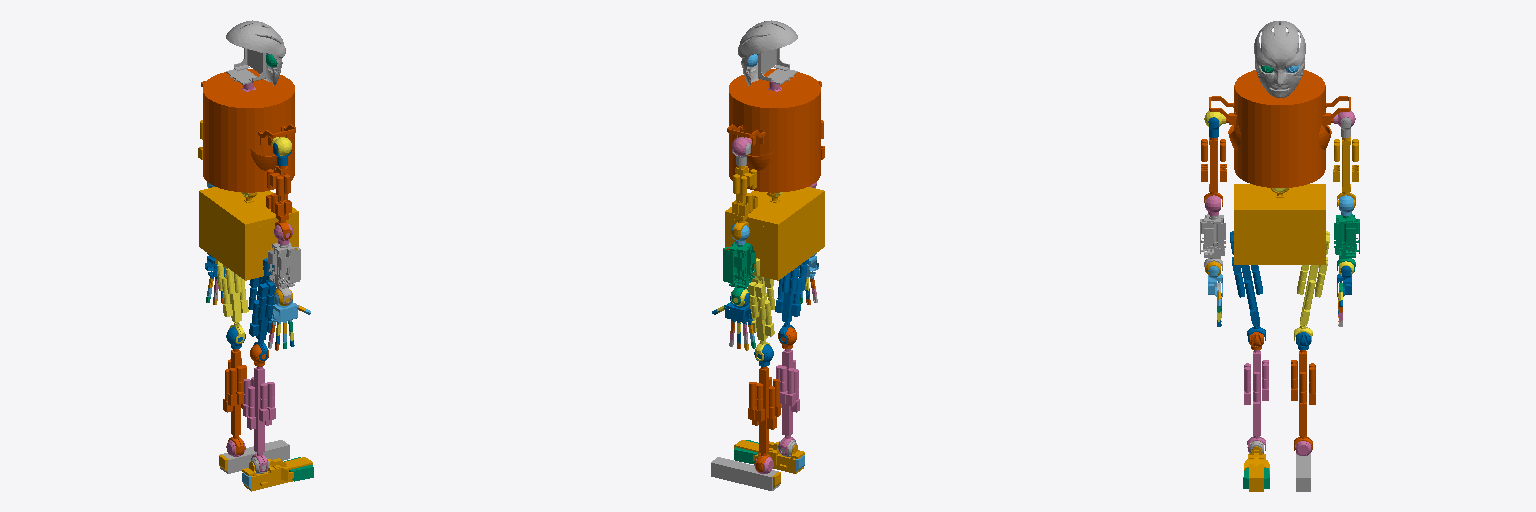
--- What the picture shows (computed from the rendered views, not written in the file) ---
3 views of the same robot in one strip: view 1: azimuth 30°, elevation 25°; view 2: azimuth 150°, elevation 25°; view 3: azimuth 270°, elevation 25° (orthographic).
Model MUSASHIWHOLE with 74 links and 73 joints (71 revolute, 2 fixed), rooted at PELVIS_LINK, posed all joints at 0.
Visible links, largest first — view 1: CHEST_LINK, PELVIS_LINK, HEAD_LINK, RLEG_TIBIA_LINK, RLEG_FEMUR_LINK, LLEG_TIBIA_LINK, RARM_FOREARM_LINK, LLEG_FEMUR_LINK, RARM_HUMERUS_LINK, RLEG_FOOT_LINK, LLEG_FOOT_LINK; view 2: CHEST_LINK, PELVIS_LINK, HEAD_LINK, LLEG_TIBIA_LINK, LLEG_FEMUR_LINK, RLEG_TIBIA_LINK, LARM_FOREARM_LINK, RLEG_FEMUR_LINK, LLEG_FOOT_LINK, LARM_HUMERUS_LINK, RLEG_FOOT_LINK; view 3: CHEST_LINK, PELVIS_LINK, HEAD_LINK, LLEG_TIBIA_LINK, RLEG_TIBIA_LINK, LLEG_FEMUR_LINK, RLEG_FEMUR_LINK, RARM_FOREARM_LINK, LARM_FOREARM_LINK, RARM_HUMERUS_LINK, LARM_HUMERUS_LINK, RLEG_FOOT_LINK (+1 smaller).
Link boxes in pixels (bbox=[...]): CHEST_LINK: bbox=[201, 69, 295, 192]; PELVIS_LINK: bbox=[199, 187, 298, 280]; HEAD_LINK: bbox=[226, 20, 285, 85]; RLEG_TIBIA_LINK: bbox=[243, 366, 275, 471]; RLEG_FEMUR_LINK: bbox=[248, 258, 275, 360]; LLEG_TIBIA_LINK: bbox=[223, 349, 246, 454]; RARM_FOREARM_LINK: bbox=[268, 242, 300, 304]; LLEG_FEMUR_LINK: bbox=[215, 259, 248, 343]; RARM_HUMERUS_LINK: bbox=[266, 166, 291, 239]; RLEG_FOOT_LINK: bbox=[242, 457, 312, 491]; LLEG_FOOT_LINK: bbox=[220, 440, 289, 473]; CHEST_LINK: bbox=[727, 69, 821, 192]; PELVIS_LINK: bbox=[725, 187, 824, 280]; HEAD_LINK: bbox=[738, 20, 797, 85]; LLEG_TIBIA_LINK: bbox=[748, 366, 780, 471]; LLEG_FEMUR_LINK: bbox=[748, 258, 774, 360]; RLEG_TIBIA_LINK: bbox=[776, 349, 799, 454]; LARM_FOREARM_LINK: bbox=[723, 242, 755, 304]; RLEG_FEMUR_LINK: bbox=[775, 259, 808, 343]; LLEG_FOOT_LINK: bbox=[711, 457, 779, 490]; LARM_HUMERUS_LINK: bbox=[731, 166, 757, 239]; RLEG_FOOT_LINK: bbox=[734, 440, 804, 473]; CHEST_LINK: bbox=[1209, 70, 1350, 187]; PELVIS_LINK: bbox=[1234, 184, 1325, 264]; HEAD_LINK: bbox=[1254, 21, 1305, 97]; LLEG_TIBIA_LINK: bbox=[1291, 350, 1315, 451]; RLEG_TIBIA_LINK: bbox=[1244, 350, 1268, 451]; LLEG_FEMUR_LINK: bbox=[1294, 231, 1329, 341]; RLEG_FEMUR_LINK: bbox=[1230, 231, 1265, 341]; RARM_FOREARM_LINK: bbox=[1200, 214, 1225, 271]; LARM_FOREARM_LINK: bbox=[1334, 214, 1359, 271]; RARM_HUMERUS_LINK: bbox=[1201, 137, 1226, 207]; LARM_HUMERUS_LINK: bbox=[1333, 137, 1358, 207]; RLEG_FOOT_LINK: bbox=[1244, 446, 1269, 491].
Bounding box of the posed robot: 0.3311 × 0.522 × 1.61 m (x, y, z).
71 mesh visuals loaded from 74 distinct referenced files (71 binary STL); not drawn: 3 (reference not matched to a file when rendering).

robot.urdf — MUSASHIWHOLE:
<?xml version='1.0' encoding='utf-8'?>
<robot name="MUSASHIWHOLE">
  <link name="PELVIS_LINK">
    <visual>
      <origin rpy="0 -0 0" xyz="0 0 0" />
      <geometry>
        <mesh filename="PELVIS_LINK_mesh.stl" scale="1 1 1" />
      </geometry>
    </visual>
    <collision>
      <origin rpy="0 -0 0" xyz="0 0 0" />
      <geometry>
        <mesh filename="PELVIS_LINK_mesh.stl" scale="1 1 1" />
      </geometry>
    </collision>
    <visual>
      <origin rpy="0 -0 0" xyz="0 0 -0.15" />
      <geometry>
        <box size="0.2 0.3 0.2"/>
      </geometry>
    </visual>
    <collision>
      <origin rpy="0 -0 0" xyz="0 0 -0.15" />
      <geometry>
        <box size="0.2 0.3 0.2"/>
      </geometry>
    </collision>
    <inertial>
      <mass value="8.64" />
      <origin rpy="0 -0 0" xyz="0.0364 0 -0.0682" />
      <inertia ixx="1" ixy="0" ixz="0" iyy="1" iyz="0" izz="1" />
    </inertial>
  </link>
  <gazebo reference="PELVIS_LINK">
    <mu1>0.9</mu1>
    <mu2>0.9</mu2>
  </gazebo>
  <link name="LLEG_HIP_JM_YAW_LINK">
    <visual>
      <origin rpy="0 -0 0" xyz="0 0.074848 -0.174" />
      <geometry>
        <mesh filename="LLEG_HIP_JM_YAW_LINK_mesh.stl" scale="1 1 1" />
      </geometry>
    </visual>
    <collision>
      <origin rpy="0 -0 0" xyz="0 0.074848 -0.174" />
      <geometry>
        <mesh filename="LLEG_HIP_JM_YAW_LINK_mesh.stl" scale="1 1 1" />
      </geometry>
    </collision>
    <inertial>
      <mass value="0.01" />
      <origin rpy="0 -0 0" xyz="0 0 0" />
      <inertia ixx="1" ixy="0" ixz="0" iyy="1" iyz="0" izz="1" />
    </inertial>
  </link>
  <gazebo reference="LLEG_HIP_JM_YAW_LINK">
    <mu1>0.9</mu1>
    <mu2>0.9</mu2>
  </gazebo>
  <link name="LLEG_HIP_JM_ROLL_LINK">
    <visual>
      <origin rpy="0 -0 0" xyz="0 0 0" />
      <geometry>
        <mesh filename="LLEG_HIP_JM_ROLL_LINK_mesh.stl" scale="1 1 1" />
      </geometry>
    </visual>
    <collision>
      <origin rpy="0 -0 0" xyz="0 0 0" />
      <geometry>
        <mesh filename="LLEG_HIP_JM_ROLL_LINK_mesh.stl" scale="1 1 1" />
      </geometry>
    </collision>
    <inertial>
      <mass value="0.001" />
      <origin rpy="0 -0 0" xyz="0 0 0" />
      <inertia ixx="1" ixy="0" ixz="0" iyy="1" iyz="0" izz="1" />
    </inertial>
  </link>
  <gazebo reference="LLEG_HIP_JM_ROLL_LINK">
    <mu1>0.9</mu1>
    <mu2>0.9</mu2>
  </gazebo>
  <link name="LLEG_FEMUR_LINK">
    <visual>
      <origin rpy="0 -0 0" xyz="0 0 0" />
      <geometry>
        <mesh filename="LLEG_FEMUR_LINK_mesh.stl" scale="1 1 1" />
      </geometry>
    </visual>
    <collision>
      <origin rpy="0 -0 0" xyz="0 0 0" />
      <geometry>
        <mesh filename="LLEG_FEMUR_LINK_mesh.stl" scale="1 1 1" />
      </geometry>
    </collision>
    <inertial>
      <mass value="2.19" />
      <origin rpy="0 -0 0" xyz="0.024 0.0021 -0.135" />
      <inertia ixx="1" ixy="0" ixz="0" iyy="1" iyz="0" izz="1" />
    </inertial>
  </link>
  <gazebo reference="LLEG_FEMUR_LINK">
    <mu1>0.9</mu1>
    <mu2>0.9</mu2>
  </gazebo>
  <link name="LLEG_KNEE_JM_PITCH_LINK">
    <visual>
      <origin rpy="0 -0 0" xyz="-0.003864 0.001455 -0.387444" />
      <geometry>
        <mesh filename="LLEG_KNEE_JM_PITCH_LINK_mesh.stl" scale="1 1 1" />
      </geometry>
    </visual>
    <collision>
      <origin rpy="0 -0 0" xyz="-0.003864 0.001455 -0.387444" />
      <geometry>
        <mesh filename="LLEG_KNEE_JM_PITCH_LINK_mesh.stl" scale="1 1 1" />
      </geometry>
    </collision>
    <inertial>
      <mass value="0.72" />
      <origin rpy="0 -0 0" xyz="-0.008065 0 -0.146065" />
      <inertia ixx="1" ixy="0" ixz="0" iyy="1" iyz="0" izz="1" />
    </inertial>
  </link>
  <gazebo reference="LLEG_KNEE_JM_PITCH_LINK">
    <mu1>0.9</mu1>
    <mu2>0.9</mu2>
  </gazebo>
  <link name="LLEG_TIBIA_LINK">
    <visual>
      <origin rpy="0 -0 0" xyz="0 0 0" />
      <geometry>
        <mesh filename="LLEG_TIBIA_LINK_mesh.stl" scale="1 1 1" />
      </geometry>
    </visual>
    <collision>
      <origin rpy="0 -0 0" xyz="0 0 0" />
      <geometry>
        <mesh filename="LLEG_TIBIA_LINK_mesh.stl" scale="1 1 1" />
      </geometry>
    </collision>
    <inertial>
      <mass value="0.75" />
      <origin rpy="0 -0 0" xyz="-0.003285 0 -0.13898" />
      <inertia ixx="1" ixy="0" ixz="0" iyy="1" iyz="0" izz="1" />
    </inertial>
  </link>
  <gazebo reference="LLEG_TIBIA_LINK">
    <mu1>0.9</mu1>
    <mu2>0.9</mu2>
  </gazebo>
  <link name="LLEG_ANKLE_JM_PITCH_LINK">
    <visual>
      <origin rpy="0 -0 0" xyz="0 0 -0.396" />
      <geometry>
        <mesh filename="LLEG_ANKLE_JM_PITCH_LINK_mesh.stl" scale="1 1 1" />
      </geometry>
    </visual>
    <collision>
      <origin rpy="0 -0 0" xyz="0 0 -0.396" />
      <geometry>
        <mesh filename="LLEG_ANKLE_JM_PITCH_LINK_mesh.stl" scale="1 1 1" />
      </geometry>
    </collision>
    <inertial>
      <mass value="0.001" />
      <origin rpy="0 -0 0" xyz="0 0 0" />
      <inertia ixx="1" ixy="0" ixz="0" iyy="1" iyz="0" izz="1" />
    </inertial>
  </link>
  <gazebo reference="LLEG_ANKLE_JM_PITCH_LINK">
    <mu1>0.9</mu1>
    <mu2>0.9</mu2>
  </gazebo>
  <link name="LLEG_FOOT_LINK">
    <visual>
      <origin rpy="0 -0 0" xyz="0 0 0" />
      <geometry>
        <mesh filename="LLEG_FOOT_LINK_mesh.stl" scale="1 1 1" />
      </geometry>
    </visual>
    <collision>
      <origin rpy="0 -0 0" xyz="0 0 0" />
      <geometry>
        <mesh filename="LLEG_FOOT_LINK_mesh.stl" scale="1 1 1" />
      </geometry>
    </collision>
    <collision>
        <origin rpy="0 0 0" xyz="0.07 0 -0.05"/>
        <geometry>
            <box size="0.23 0.05 0.05"/>
        </geometry>
    </collision>
    <visual>
        <origin rpy="0 0 0" xyz="0.07 0 -0.05"/>
        <geometry>
            <box size="0.23 0.05 0.05"/>
        </geometry>
    </visual>
    <inertial>
      <mass value="0.813162" />
      <origin rpy="0 -0 0" xyz="0.031374 0.000351 -0.021492" />
      <inertia ixx="1" ixy="0" ixz="0" iyy="1" iyz="0" izz="1" />
    </inertial>
  </link>
  <gazebo reference="LLEG_FOOT_LINK">
    <mu1>0.9</mu1>
    <mu2>0.9</mu2>
  </gazebo>
  <link name="LLEG_HEEL_LINK">
    <visual>
      <origin rpy="0 -0 0" xyz="-0.006 0 -0.0425" />
      <geometry>
        <mesh filename="LLEG_HEEL_LINK_mesh.stl" scale="1 1 1" />
      </geometry>
    </visual>
    <collision>
      <origin rpy="0 -0 0" xyz="-0.006 0 -0.0425" />
      <geometry>
        <mesh filename="LLEG_HEEL_LINK_mesh.stl" scale="1 1 1" />
      </geometry>
    </collision>
    <inertial>
      <mass value="0.128555" />
      <origin rpy="0 -0 0" xyz="-0.028056 -0.001328 -0.006455" />
      <inertia ixx="1" ixy="0" ixz="0" iyy="1" iyz="0" izz="1" />
    </inertial>
  </link>
  <gazebo reference="LLEG_HEEL_LINK">
    <mu1>0.9</mu1>
    <mu2>0.9</mu2>
  </gazebo>
  <link name="LLEG_TOE_LINK">
    <visual>
      <origin rpy="0 -0 0" xyz="0.1195 0 -0.0455" />
      <geometry>
        <mesh filename="LLEG_TOE_LINK_mesh.stl" scale="1 1 1" />
      </geometry>
    </visual>
    <collision>
      <origin rpy="0 -0 0" xyz="0.1195 0 -0.0455" />
      <geometry>
        <mesh filename="LLEG_TOE_LINK_mesh.stl" scale="1 1 1" />
      </geometry>
    </collision>
    <inertial>
      <mass value="0.368967" />
      <origin rpy="0 -0 0" xyz="0.024319 0.000124 -0.006775" />
      <inertia ixx="1" ixy="0" ixz="0" iyy="1" iyz="0" izz="1" />
    </inertial>
  </link>
  <gazebo reference="LLEG_TOE_LINK">
    <mu1>0.9</mu1>
    <mu2>0.9</mu2>
  </gazebo>
  <link name="RLEG_HIP_JM_YAW_LINK">
    <visual>
      <origin rpy="0 -0 0" xyz="0 -0.074848 -0.174" />
      <geometry>
        <mesh filename="RLEG_HIP_JM_YAW_LINK_mesh.stl" scale="1 1 1" />
      </geometry>
    </visual>
    <collision>
      <origin rpy="0 -0 0" xyz="0 -0.074848 -0.174" />
      <geometry>
        <mesh filename="RLEG_HIP_JM_YAW_LINK_mesh.stl" scale="1 1 1" />
      </geometry>
    </collision>
    <inertial>
      <mass value="0.01" />
      <origin rpy="0 -0 0" xyz="0 0 0" />
      <inertia ixx="1" ixy="0" ixz="0" iyy="1" iyz="0" izz="1" />
    </inertial>
  </link>
  <gazebo reference="RLEG_HIP_JM_YAW_LINK">
    <mu1>0.9</mu1>
    <mu2>0.9</mu2>
  </gazebo>
  <link name="RLEG_HIP_JM_ROLL_LINK">
    <visual>
      <origin rpy="0 -0 0" xyz="0 0 0" />
      <geometry>
        <mesh filename="RLEG_HIP_JM_ROLL_LINK_mesh.stl" scale="1 1 1" />
      </geometry>
    </visual>
    <collision>
      <origin rpy="0 -0 0" xyz="0 0 0" />
      <geometry>
        <mesh filename="RLEG_HIP_JM_ROLL_LINK_mesh.stl" scale="1 1 1" />
      </geometry>
    </collision>
    <inertial>
      <mass value="0.001" />
      <origin rpy="0 -0 0" xyz="0 0 0" />
      <inertia ixx="1" ixy="0" ixz="0" iyy="1" iyz="0" izz="1" />
    </inertial>
  </link>
  <gazebo reference="RLEG_HIP_JM_ROLL_LINK">
    <mu1>0.9</mu1>
    <mu2>0.9</mu2>
  </gazebo>
  <link name="RLEG_FEMUR_LINK">
    <visual>
      <origin rpy="0 -0 0" xyz="0 0 0" />
      <geometry>
        <mesh filename="RLEG_FEMUR_LINK_mesh.stl" scale="1 1 1" />
      </geometry>
    </visual>
    <collision>
      <origin rpy="0 -0 0" xyz="0 0 0" />
      <geometry>
        <mesh filename="RLEG_FEMUR_LINK_mesh.stl" scale="1 1 1" />
      </geometry>
    </collision>
    <inertial>
      <mass value="2.19" />
      <origin rpy="0 -0 0" xyz="0.024 0.0021 -0.135" />
      <inertia ixx="1" ixy="0" ixz="0" iyy="1" iyz="0" izz="1" />
    </inertial>
  </link>
  <gazebo reference="RLEG_FEMUR_LINK">
    <mu1>0.9</mu1>
    <mu2>0.9</mu2>
  </gazebo>
  <link name="RLEG_KNEE_JM_PITCH_LINK">
    <visual>
      <origin rpy="0 -0 0" xyz="-0.003864 -0.001455 -0.387444" />
      <geometry>
        <mesh filename="RLEG_KNEE_JM_PITCH_LINK_mesh.stl" scale="1 1 1" />
      </geometry>
    </visual>
    <collision>
      <origin rpy="0 -0 0" xyz="-0.003864 -0.001455 -0.387444" />
      <geometry>
        <mesh filename="RLEG_KNEE_JM_PITCH_LINK_mesh.stl" scale="1 1 1" />
      </geometry>
    </collision>
    <inertial>
      <mass value="0.72" />
      <origin rpy="0 -0 0" xyz="-0.008065 0 -0.146065" />
      <inertia ixx="1" ixy="0" ixz="0" iyy="1" iyz="0" izz="1" />
    </inertial>
  </link>
  <gazebo reference="RLEG_KNEE_JM_PITCH_LINK">
    <mu1>0.9</mu1>
    <mu2>0.9</mu2>
  </gazebo>
  <link name="RLEG_TIBIA_LINK">
    <visual>
      <origin rpy="0 -0 0" xyz="0 0 0" />
      <geometry>
        <mesh filename="RLEG_TIBIA_LINK_mesh.stl" scale="1 1 1" />
      </geometry>
    </visual>
    <collision>
      <origin rpy="0 -0 0" xyz="0 0 0" />
      <geometry>
        <mesh filename="RLEG_TIBIA_LINK_mesh.stl" scale="1 1 1" />
      </geometry>
    </collision>
    <inertial>
      <mass value="0.75" />
      <origin rpy="0 -0 0" xyz="-0.003285 0 -0.13898" />
      <inertia ixx="1" ixy="0" ixz="0" iyy="1" iyz="0" izz="1" />
    </inertial>
  </link>
  <gazebo reference="RLEG_TIBIA_LINK">
    <mu1>0.9</mu1>
    <mu2>0.9</mu2>
  </gazebo>
  <link name="RLEG_ANKLE_JM_PITCH_LINK">
    <visual>
      <origin rpy="0 -0 0" xyz="0 0 -0.396" />
      <geometry>
        <mesh filename="RLEG_ANKLE_JM_PITCH_LINK_mesh.stl" scale="1 1 1" />
      </geometry>
    </visual>
    <collision>
      <origin rpy="0 -0 0" xyz="0 0 -0.396" />
      <geometry>
        <mesh filename="RLEG_ANKLE_JM_PITCH_LINK_mesh.stl" scale="1 1 1" />
      </geometry>
    </collision>
    <inertial>
      <mass value="0.001" />
      <origin rpy="0 -0 0" xyz="0 0 0" />
      <inertia ixx="1" ixy="0" ixz="0" iyy="1" iyz="0" izz="1" />
    </inertial>
  </link>
  <gazebo reference="RLEG_ANKLE_JM_PITCH_LINK">
    <mu1>0.9</mu1>
    <mu2>0.9</mu2>
  </gazebo>
  <link name="RLEG_FOOT_LINK">
    <visual>
      <origin rpy="0 -0 0" xyz="0 0 0" />
      <geometry>
        <mesh filename="RLEG_FOOT_LINK_mesh.stl" scale="1 1 1" />
      </geometry>
    </visual>
    <collision>
      <origin rpy="0 -0 0" xyz="0 0 0" />
      <geometry>
        <mesh filename="RLEG_FOOT_LINK_mesh.stl" scale="1 1 1" />
      </geometry>
    </collision>
    <collision>
        <origin rpy="0 0 0" xyz="0.07 0 -0.05"/>
        <geometry>
            <box size="0.23 0.05 0.05"/>
        </geometry>
    </collision>
    <visual>
        <origin rpy="0 0 0" xyz="0.07 0 -0.05"/>
        <geometry>
            <box size="0.23 0.05 0.05"/>
        </geometry>
    </visual>
    <inertial>
      <mass value="0.813162" />
      <origin rpy="0 -0 0" xyz="0.031374 -0.000351 -0.021492" />
      <inertia ixx="1" ixy="0" ixz="0" iyy="1" iyz="0" izz="1" />
    </inertial>
  </link>
  <gazebo reference="RLEG_FOOT_LINK">
    <mu1>0.9</mu1>
    <mu2>0.9</mu2>
  </gazebo>
  <link name="RLEG_HEEL_LINK">
    <visual>
      <origin rpy="0 -0 0" xyz="-0.006 0 -0.0425" />
      <geometry>
        <mesh filename="RLEG_HEEL_LINK_mesh.stl" scale="1 1 1" />
      </geometry>
    </visual>
    <collision>
      <origin rpy="0 -0 0" xyz="-0.006 0 -0.0425" />
      <geometry>
        <mesh filename="RLEG_HEEL_LINK_mesh.stl" scale="1 1 1" />
      </geometry>
    </collision>
    <inertial>
      <mass value="0.128555" />
      <origin rpy="0 -0 0" xyz="-0.028056 0.001328 -0.006455" />
      <inertia ixx="1" ixy="0" ixz="0" iyy="1" iyz="0" izz="1" />
    </inertial>
  </link>
  <gazebo reference="RLEG_HEEL_LINK">
    <mu1>0.9</mu1>
    <mu2>0.9</mu2>
  </gazebo>
  <link name="RLEG_TOE_LINK">
    <visual>
      <origin rpy="0 -0 0" xyz="0.1195 0 -0.0455" />
      <geometry>
        <mesh filename="RLEG_TOE_LINK_mesh.stl" scale="1 1 1" />
      </geometry>
    </visual>
    <collision>
      <origin rpy="0 -0 0" xyz="0.1195 0 -0.0455" />
      <geometry>
        <mesh filename="RLEG_TOE_LINK_mesh.stl" scale="1 1 1" />
      </geometry>
    </collision>
    <inertial>
      <mass value="0.368967" />
      <origin rpy="0 -0 0" xyz="0.024319 -0.000124 -0.006775" />
      <inertia ixx="1" ixy="0" ixz="0" iyy="1" iyz="0" izz="1" />
    </inertial>
  </link>
  <gazebo reference="RLEG_TOE_LINK">
    <mu1>0.9</mu1>
    <mu2>0.9</mu2>
  </gazebo>
  <link name="SPINE_JM_PITCH_LINK">
    <visual>
      <origin rpy="0 -0 0" xyz="0 0 0" />
      <geometry>
        <mesh filename="SPINE_JM_PITCH_LINK_mesh.stl" scale="1 1 1" />
      </geometry>
    </visual>
    <collision>
      <origin rpy="0 -0 0" xyz="0 0 0" />
      <geometry>
        <mesh filename="SPINE_JM_PITCH_LINK_mesh.stl" scale="1 1 1" />
      </geometry>
    </collision>
    <inertial>
      <mass value="0.001" />
      <origin rpy="0 -0 0" xyz="0 0 0" />
      <inertia ixx="1" ixy="0" ixz="0" iyy="1" iyz="0" izz="1" />
    </inertial>
  </link>
  <gazebo reference="SPINE_JM_PITCH_LINK">
    <mu1>0.9</mu1>
    <mu2>0.9</mu2>
  </gazebo>
  <link name="SPINE_JM_ROLL_LINK">
    <visual>
      <origin rpy="0 -0 0" xyz="0 0 0" />
      <geometry>
        <mesh filename="SPINE_JM_ROLL_LINK_mesh.stl" scale="1 1 1" />
      </geometry>
    </visual>
    <collision>
      <origin rpy="0 -0 0" xyz="0 0 0" />
      <geometry>
        <mesh filename="SPINE_JM_ROLL_LINK_mesh.stl" scale="1 1 1" />
      </geometry>
    </collision>
    <inertial>
      <mass value="0.001" />
      <origin rpy="0 -0 0" xyz="0 0 0" />
      <inertia ixx="1" ixy="0" ixz="0" iyy="1" iyz="0" izz="1" />
    </inertial>
  </link>
  <gazebo reference="SPINE_JM_ROLL_LINK">
    <mu1>0.9</mu1>
    <mu2>0.9</mu2>
  </gazebo>
  <link name="CHEST_LINK">
    <visual>
      <origin rpy="0 -0 0" xyz="0 0 0" />
      <geometry>
        <mesh filename="CHEST_LINK_mesh.stl" scale="1 1 1" />
      </geometry>
    </visual>
    <collision>
      <origin rpy="0 -0 0" xyz="0 0 0" />
      <geometry>
        <mesh filename="CHEST_LINK_mesh.stl" scale="1 1 1" />
      </geometry>
    </collision>
    <collision>
      <origin rpy="0 -0 0" xyz="0 0 0.2" />
      <geometry>
        <cylinder radius="0.15" length="0.3"/>
      </geometry>
    </collision>
    <visual>
      <origin rpy="0 -0 0" xyz="0 0 0.2" />
      <geometry>
        <cylinder radius="0.15" length="0.3"/>
      </geometry>
    </visual>
    <inertial>
      <mass value="0.001" />
      <origin rpy="0 -0 0" xyz="0 0 0" />
      <inertia ixx="1" ixy="0" ixz="0" iyy="1" iyz="0" izz="1" />
    </inertial>
  </link>
  <gazebo reference="CHEST_LINK">
    <mu1>0.9</mu1>
    <mu2>0.9</mu2>
  </gazebo>
  <link name="LARM_HUMERUS_DUMMY1_LINK">
    <visual>
      <origin rpy="0 -0 0" xyz="0 0.178 0.231445" />
      <geometry>
        <mesh filename="LARM_HUMERUS_DUMMY1_LINK_mesh.stl" scale="1 1 1" />
      </geometry>
    </visual>
    <collision>
      <origin rpy="0 -0 0" xyz="0 0.178 0.231445" />
      <geometry>
        <mesh filename="LARM_HUMERUS_DUMMY1_LINK_mesh.stl" scale="1 1 1" />
      </geometry>
    </collision>
    <inertial>
      <mass value="0.001" />
      <origin rpy="0 -0 0" xyz="0 0 0" />
      <inertia ixx="1" ixy="0" ixz="0" iyy="1" iyz="0" izz="1" />
    </inertial>
  </link>
  <gazebo reference="LARM_HUMERUS_DUMMY1_LINK">
    <mu1>0.9</mu1>
    <mu2>0.9</mu2>
  </gazebo>
  <link name="LARM_HUMERUS_DUMMY2_LINK">
    <visual>
      <origin rpy="0 -0 0" xyz="0 0.039 0" />
      <geometry>
        <mesh filename="LARM_HUMERUS_DUMMY2_LINK_mesh.stl" scale="1 1 1" />
      </geometry>
    </visual>
    <collision>
      <origin rpy="0 -0 0" xyz="0 0.039 0" />
      <geometry>
        <mesh filename="LARM_HUMERUS_DUMMY2_LINK_mesh.stl" scale="1 1 1" />
      </geometry>
    </collision>
    <inertial>
      <mass value="0.001" />
      <origin rpy="0 -0 0" xyz="0 0 0" />
      <inertia ixx="1" ixy="0" ixz="0" iyy="1" iyz="0" izz="1" />
    </inertial>
  </link>
  <gazebo reference="LARM_HUMERUS_DUMMY2_LINK">
    <mu1>0.9</mu1>
    <mu2>0.9</mu2>
  </gazebo>
  <link name="LARM_HUMERUS_LINK">
    <visual>
      <origin rpy="0 -0 0" xyz="0 0 -0.073" />
      <geometry>
        <mesh filename="LARM_HUMERUS_LINK_mesh.stl" scale="1 1 1" />
      </geometry>
    </visual>
    <collision>
      <origin rpy="0 -0 0" xyz="0 0 -0.073" />
      <geometry>
        <mesh filename="LARM_HUMERUS_LINK_mesh.stl" scale="1 1 1" />
      </geometry>
    </collision>
    <inertial>
      <mass value="2.19" />
      <origin rpy="0 -0 0" xyz="0.024 0.0021 -0.135" />
      <inertia ixx="1" ixy="0" ixz="0" iyy="1" iyz="0" izz="1" />
    </inertial>
  </link>
  <gazebo reference="LARM_HUMERUS_LINK">
    <mu1>0.9</mu1>
    <mu2>0.9</mu2>
  </gazebo>
  <link name="LARM_FOREARM_DUMMY1_LINK">
    <visual>
      <origin rpy="0 -0 0" xyz="0.004 0 -0.231" />
      <geometry>
        <mesh filename="LARM_FOREARM_DUMMY1_LINK_mesh.stl" scale="1 1 1" />
      </geometry>
    </visual>
    <collision>
      <origin rpy="0 -0 0" xyz="0.004 0 -0.231" />
      <geometry>
        <mesh filename="LARM_FOREARM_DUMMY1_LINK_mesh.stl" scale="1 1 1" />
      </geometry>
    </collision>
    <inertial>
      <mass value="0.72" />
      <origin rpy="0 -0 0" xyz="-0.008065 0 -0.146065" />
      <inertia ixx="1" ixy="0" ixz="0" iyy="1" iyz="0" izz="1" />
    </inertial>
  </link>
  <gazebo reference="LARM_FOREARM_DUMMY1_LINK">
    <mu1>0.9</mu1>
    <mu2>0.9</mu2>
  </gazebo>
  <link name="LARM_FOREARM_LINK">
    <visual>
      <origin rpy="0 -0 0" xyz="0 0 -0.04" />
      <geometry>
        <mesh filename="LARM_FOREARM_LINK_mesh.stl" scale="1 1 1" />
      </geometry>
    </visual>
    <collision>
      <origin rpy="0 -0 0" xyz="0 0 -0.04" />
      <geometry>
        <mesh filename="LARM_FOREARM_LINK_mesh.stl" scale="1 1 1" />
      </geometry>
    </collision>
    <inertial>
      <mass value="0.75" />
      <origin rpy="0 -0 0" xyz="-0.003285 0 -0.13898" />
      <inertia ixx="1" ixy="0" ixz="0" iyy="1" iyz="0" izz="1" />
    </inertial>
  </link>
  <gazebo reference="LARM_FOREARM_LINK">
    <mu1>0.9</mu1>
    <mu2>0.9</mu2>
  </gazebo>
  <link name="LARM_HAND_DUMMY1_LINK">
    <visual>
      <origin rpy="0 -0 0" xyz="0 0 -0.191" />
      <geometry>
        <mesh filename="LARM_HAND_DUMMY1_LINK_mesh.stl" scale="1 1 1" />
      </geometry>
    </visual>
    <collision>
      <origin rpy="0 -0 0" xyz="0 0 -0.191" />
      <geometry>
        <mesh filename="LARM_HAND_DUMMY1_LINK_mesh.stl" scale="1 1 1" />
      </geometry>
    </collision>
    <inertial>
      <mass value="0.001" />
      <origin rpy="0 -0 0" xyz="0 0 0" />
      <inertia ixx="1" ixy="0" ixz="0" iyy="1" iyz="0" izz="1" />
    </inertial>
  </link>
  <gazebo reference="LARM_HAND_DUMMY1_LINK">
    <mu1>0.9</mu1>
    <mu2>0.9</mu2>
  </gazebo>
  <link name="LARM_HAND_LINK">
    <visual>
      <origin rpy="0 -0 0" xyz="0 0 0" />
      <geometry>
        <mesh filename="LARM_HAND_LINK_mesh.stl" scale="1 1 1" />
      </geometry>
    </visual>
    <collision>
      <origin rpy="0 -0 0" xyz="0 0 0" />
      <geometry>
        <mesh filename="LARM_HAND_LINK_mesh.stl" scale="1 1 1" />
      </geometry>
    </collision>
    <inertial>
      <mass value="0.192" />
      <origin rpy="0 -0 0" xyz="0.01125 0 -0.03" />
      <inertia ixx="1" ixy="0" ixz="0" iyy="1" iyz="0" izz="1" />
    </inertial>
  </link>
  <gazebo reference="LARM_HAND_LINK">
    <mu1>0.9</mu1>
    <mu2>0.9</mu2>
  </gazebo>
  <link name="LARM_INDEX3_LINK">
    <visual>
      <origin rpy="0 -0 0" xyz="0.0349544 -0.017 -0.100974" />
      <geometry>
        <mesh filename="LARM_INDEX3_LINK_mesh.stl" scale="1 1 1" />
      </geometry>
    </visual>
    <collision>
      <origin rpy="0 -0 0" xyz="0.0349544 -0.017 -0.100974" />
      <geometry>
        <mesh filename="LARM_INDEX3_LINK_mesh.stl" scale="1 1 1" />
      </geometry>
    </collision>
    <inertial>
      <mass value="0.001" />
      <origin rpy="0 -0 0" xyz="0 0 0" />
      <inertia ixx="1" ixy="0" ixz="0" iyy="1" iyz="0" izz="1" />
    </inertial>
  </link>
  <gazebo reference="LARM_INDEX3_LINK">
    <mu1>0.9</mu1>
    <mu2>0.9</mu2>
  </gazebo>
  <link name="LARM_INDEX2_LINK">
    <visual>
      <origin rpy="0 -0 0" xyz="0.00348623 0 -0.0398478" />
      <geometry>
        <mesh filename="LARM_INDEX2_LINK_mesh.stl" scale="1 1 1" />
      </geometry>
    </visual>
    <collision>
      <origin rpy="0 -0 0" xyz="0.00348623 0 -0.0398478" />
      <geometry>
        <mesh filename="LARM_INDEX2_LINK_mesh.stl" scale="1 1 1" />
      </geometry>
    </collision>
    <inertial>
      <mass value="0.001" />
      <origin rpy="0 -0 0" xyz="0 0 0" />
      <inertia ixx="1" ixy="0" ixz="0" iyy="1" iyz="0" izz="1" />
    </inertial>
  </link>
  <gazebo reference="LARM_INDEX2_LINK">
    <mu1>0.9</mu1>
    <mu2>0.9</mu2>
  </gazebo>
  <link name="LARM_INDEX1_LINK">
    <visual>
      <origin rpy="0 -0 0" xyz="0.00261467 0 -0.0298858" />
      <geometry>
        <mesh filename="LARM_INDEX1_LINK_mesh.stl" scale="1 1 1" />
      </geometry>
    </visual>
    <collision>
      <origin rpy="0 -0 0" xyz="0.00261467 0 -0.0298858" />
      <geometry>
        <mesh filename="LARM_INDEX1_LINK_mesh.stl" scale="1 1 1" />
      </geometry>
    </collision>
    <inertial>
      <mass value="0.001" />
      <origin rpy="0 -0 0" xyz="0 0 0" />
      <inertia ixx="1" ixy="0" ixz="0" iyy="1" iyz="0" izz="1" />
    </inertial>
  </link>
  <gazebo reference="LARM_INDEX1_LINK">
    <mu1>0.9</mu1>
    <mu2>0.9</mu2>
  </gazebo>
  <link name="LARM_LITTLE3_LINK">
    <visual>
      <origin rpy="0 -0 0" xyz="-0.0273876 -0.017 -0.098252" />
      <geometry>
        <mesh filename="LARM_LITTLE3_LINK_mesh.stl" scale="1 1 1" />
      </geometry>
    </visual>
    <collision>
      <origin rpy="0 -0 0" xyz="-0.0273876 -0.017 -0.098252" />
      <geometry>
        <mesh filename="LARM_LITTLE3_LINK_mesh.stl" scale="1 1 1" />
      </geometry>
    </collision>
    <inertial>
      <mass value="0.001" />
      <origin rpy="0 -0 0" xyz="0 0 0" />
      <inertia ixx="1" ixy="0" ixz="0" iyy="1" iyz="0" izz="1" />
    </inertial>
  </link>
  <gazebo reference="LARM_LITTLE3_LINK">
    <mu1>0.9</mu1>
    <mu2>0.9</mu2>
  </gazebo>
  <link name="LARM_LITTLE2_LINK">
    <visual>
      <origin rpy="0 -0 0" xyz="-0.00520945 0 -0.0295442" />
      <geometry>
        <mesh filename="LARM_LITTLE2_LINK_mesh.stl" scale="1 1 1" />
      </geometry>
    </visual>
    <collision>
      <origin rpy="0 -0 0" xyz="-0.00520945 0 -0.0295442" />
      <geometry>
        <mesh filename="LARM_LITTLE2_LINK_mesh.stl" scale="1 1 1" />
      </geometry>
    </collision>
    <inertial>
      <mass value="0.001" />
      <origin rpy="0 -0 0" xyz="0 0 0" />
      <inertia ixx="1" ixy="0" ixz="0" iyy="1" iyz="0" izz="1" />
    </inertial>
  </link>
  <gazebo reference="LARM_LITTLE2_LINK">
    <mu1>0.9</mu1>
    <mu2>0.9</mu2>
  </gazebo>
  <link name="LARM_LITTLE1_LINK">
    <visual>
      <origin rpy="0 -0 0" xyz="-0.00520945 0 -0.0295442" />
      <geometry>
        <mesh filename="LARM_LITTLE1_LINK_mesh.stl" scale="1 1 1" />
      </geometry>
    </visual>
    <collision>
      <origin rpy="0 -0 0" xyz="-0.00520945 0 -0.0295442" />
      <geometry>
        <mesh filename="LARM_LITTLE1_LINK_mesh.stl" scale="1 1 1" />
      </geometry>
    </collision>
    <inertial>
      <mass value="0.001" />
      <origin rpy="0 -0 0" xyz="0 0 0" />
      <inertia ixx="1" ixy="0" ixz="0" iyy="1" iyz="0" izz="1" />
    </inertial>
  </link>
  <gazebo reference="LARM_LITTLE1_LINK">
    <mu1>0.9</mu1>
    <mu2>0.9</mu2>
  </gazebo>
  <link name="LARM_MIDDLE3_LINK">
    <visual>
      <origin rpy="0 -0 0" xyz="0.0141209 -0.017 -0.101883" />
      <geometry>
        <mesh filename="LARM_MIDDLE3_LINK_mesh.stl" scale="1 1 1" />
      </geometry>
    </visual>
    <collision>
      <origin rpy="0 -0 0" xyz="0.0141209 -0.017 -0.101883" />
      <geometry>
        <mesh filename="LARM_MIDDLE3_LINK_mesh.stl" scale="1 1 1" />
      </geometry>
    </collision>
    <inertial>
      <mass value="0.001" />
      <origin rpy="0 -0 0" xyz="0 0 0" />
      <inertia ixx="1" ixy="0" ixz="0" iyy="1" iyz="0" izz="1" />
    </inertial>
  </link>
  <gazebo reference="LARM_MIDDLE3_LINK">
    <mu1>0.9</mu1>
    <mu2>0.9</mu2>
  </gazebo>
  <link name="LARM_MIDDLE2_LINK">
    <visual>
      <origin rpy="0 -0 0" xyz="0 0 -0.04" />
      <geometry>
        <mesh filename="LARM_MIDDLE2_LINK_mesh.stl" scale="1 1 1" />
      </geometry>
    </visual>
    <collision>
      <origin rpy="0 -0 0" xyz="0 0 -0.04" />
      <geometry>
        <mesh filename="LARM_MIDDLE2_LINK_mesh.stl" scale="1 1 1" />
      </geometry>
    </collision>
    <inertial>
      <mass value="0.001" />
      <origin rpy="0 -0 0" xyz="0 0 0" />
      <inertia ixx="1" ixy="0" ixz="0" iyy="1" iyz="0" izz="1" />
    </inertial>
  </link>
  <gazebo reference="LARM_MIDDLE2_LINK">
    <mu1>0.9</mu1>
    <mu2>0.9</mu2>
  </gazebo>
  <link name="LARM_MIDDLE1_LINK">
    <visual>
      <origin rpy="0 -0 0" xyz="0 0 -0.03" />
      <geometry>
        <mesh filename="LARM_MIDDLE1_LINK_mesh.stl" scale="1 1 1" />
      </geometry>
    </visual>
    <collision>
      <origin rpy="0 -0 0" xyz="0 0 -0.03" />
      <geometry>
        <mesh filename="LARM_MIDDLE1_LINK_mesh.stl" scale="1 1 1" />
      </geometry>
    </collision>
    <inertial>
      <mass value="0.001" />
      <origin rpy="0 -0 0" xyz="0 0 0" />
      <inertia ixx="1" ixy="0" ixz="0" iyy="1" iyz="0" izz="1" />
    </inertial>
  </link>
  <gazebo reference="LARM_MIDDLE1_LINK">
    <mu1>0.9</mu1>
    <mu2>0.9</mu2>
  </gazebo>
  <link name="LARM_RING3_LINK">
    <visual>
      <origin rpy="0 -0 0" xyz="-0.00671263 -0.017 -0.100974" />
      <geometry>
        <mesh filename="LARM_RING3_LINK_mesh.stl" scale="1 1 1" />
      </geometry>
    </visual>
    <collision>
      <origin rpy="0 -0 0" xyz="-0.00671263 -0.017 -0.100974" />
      <geometry>
        <mesh filename="LARM_RING3_LINK_mesh.stl" scale="1 1 1" />
      </geometry>
    </collision>
    <inertial>
      <mass value="0.001" />
      <origin rpy="0 -0 0" xyz="0 0 0" />
      <inertia ixx="1" ixy="0" ixz="0" iyy="1" iyz="0" izz="1" />
    </inertial>
  </link>
  <gazebo reference="LARM_RING3_LINK">
    <mu1>0.9</mu1>
    <mu2>0.9</mu2>
  </gazebo>
  <link name="LARM_RING2_LINK">
    <visual>
      <origin rpy="0 -0 0" xyz="-0.00348623 0 -0.0398478" />
      <geometry>
        <mesh filename="LARM_RING2_LINK_mesh.stl" scale="1 1 1" />
      </geometry>
    </visual>
    <collision>
      <origin rpy="0 -0 0" xyz="-0.00348623 0 -0.0398478" />
      <geometry>
        <mesh filename="LARM_RING2_LINK_mesh.stl" scale="1 1 1" />
      </geometry>
    </collision>
    <inertial>
      <mass value="0.001" />
      <origin rpy="0 -0 0" xyz="0 0 0" />
      <inertia ixx="1" ixy="0" ixz="0" iyy="1" iyz="0" izz="1" />
    </inertial>
  </link>
  <gazebo reference="LARM_RING2_LINK">
    <mu1>0.9</mu1>
    <mu2>0.9</mu2>
  </gazebo>
  <link name="LARM_RING1_LINK">
    <visual>
      <origin rpy="0 -0 0" xyz="-0.00261467 0 -0.0298858" />
      <geometry>
        <mesh filename="LARM_RING1_LINK_mesh.stl" scale="1 1 1" />
      </geometry>
    </visual>
    <collision>
      <origin rpy="0 -0 0" xyz="-0.00261467 0 -0.0298858" />
      <geometry>
        <mesh filename="LARM_RING1_LINK_mesh.stl" scale="1 1 1" />
      </geometry>
    </collision>
    <inertial>
      <mass value="0.001" />
      <origin rpy="0 -0 0" xyz="0 0 0" />
      <inertia ixx="1" ixy="0" ixz="0" iyy="1" iyz="0" izz="1" />
    </inertial>
  </link>
  <gazebo reference="LARM_RING1_LINK">
    <mu1>0.9</mu1>
    <mu2>0.9</mu2>
  </gazebo>
  <link name="LARM_THUMB4_LINK">
    <visual>
      <origin rpy="0 -0 0" xyz="0.0299678 -0.006 -0.0497134" />
      <geometry>
        <mesh filename="LARM_THUMB4_LINK_mesh.stl" scale="1 1 1" />
      </geometry>
    </visual>
    <collision>
      <origin rpy="0 -0 0" xyz="0.0299678 -0.006 -0.0497134" />
      <geometry>
        <mesh filename="LARM_THUMB4_LINK_mesh.stl" scale="1 1 1" />
      </geometry>
    </collision>
    <inertial>
      <mass value="0.001" />
      <origin rpy="0 -0 0" xyz="0 0 0" />
      <inertia ixx="1" ixy="0" ixz="0" iyy="1" iyz="0" izz="1" />
    </inertial>
  </link>
  <gazebo reference="LARM_THUMB4_LINK">
    <mu1>0.9</mu1>
    <mu2>0.9</mu2>
  </gazebo>
  <link name="LARM_THUMB3_LINK">
    <visual>
      <origin rpy="0 -0 0" xyz="0 0 0" />
      <geometry>
        <mesh filename="LARM_THUMB3_LINK_mesh.stl" scale="1 1 1" />
      </geometry>
    </visual>
    <collision>
      <origin rpy="0 -0 0" xyz="0 0 0" />
      <geometry>
        <mesh filename="LARM_THUMB3_LINK_mesh.stl" scale="1 1 1" />
      </geometry>
    </collision>
    <inertial>
      <mass value="0.001" />
      <origin rpy="0 -0 0" xyz="0 0 0" />
      <inertia ixx="1" ixy="0" ixz="0" iyy="1" iyz="0" izz="1" />
    </inertial>
  </link>
  <gazebo reference="LARM_THUMB3_LINK">
    <mu1>0.9</mu1>
    <mu2>0.9</mu2>
  </gazebo>
  <link name="LARM_THUMB2_LINK">
    <visual>
      <origin rpy="0 -0 0" xyz="0.0360228 -0.011 -0.0109274" />
      <geometry>
        <mesh filename="LARM_THUMB2_LINK_mesh.stl" scale="1 1 1" />
      </geometry>
    </visual>
    <collision>
      <origin rpy="0 -0 0" xyz="0.0360228 -0.011 -0.0109274" />
      <geometry>
        <mesh filename="LARM_THUMB2_LINK_mesh.stl" scale="1 1 1" />
      </geometry>
    </collision>
    <inertial>
      <mass value="0.001" />
      <origin rpy="0 -0 0" xyz="0 0 0" />
      <inertia ixx="1" ixy="0" ixz="0" iyy="1" iyz="0" izz="1" />
    </inertial>
  </link>
  <gazebo reference="LARM_THUMB2_LINK">
    <mu1>0.9</mu1>
    <mu2>0.9</mu2>
  </gazebo>
  <link name="LARM_THUMB1_LINK">
    <visual>
      <origin rpy="0 -0 0" xyz="0.0245746 0 -0.0172073" />
      <geometry>
        <mesh filename="LARM_THUMB1_LINK_mesh.stl" scale="1 1 1" />
      </geometry>
    </visual>
    <collision>
      <origin rpy="0 -0 0" xyz="0.0245746 0 -0.0172073" />
      <geometry>
        <mesh filename="LARM_THUMB1_LINK_mesh.stl" scale="1 1 1" />
      </geometry>
    </collision>
    <inertial>
      <mass value="0.001" />
      <origin rpy="0 -0 0" xyz="0 0 0" />
      <inertia ixx="1" ixy="0" ixz="0" iyy="1" iyz="0" izz="1" />
    </inertial>
  </link>
  <gazebo reference="LARM_THUMB1_LINK">
    <mu1>0.9</mu1>
    <mu2>0.9</mu2>
  </gazebo>
  <link name="NECK_JM_PITCH_LINK">
    <visual>
      <origin rpy="0 -0 0" xyz="0 0 0.322" />
      <geometry>
        <mesh filename="NECK_JM_PITCH_LINK_mesh.stl" scale="1 1 1" />
      </geometry>
    </visual>
    <collision>
      <origin rpy="0 -0 0" xyz="0 0 0.322" />
      <geometry>
        <mesh filename="NECK_JM_PITCH_LINK_mesh.stl" scale="1 1 1" />
      </geometry>
    </collision>
    <inertial>
      <mass value="0.001" />
      <origin rpy="0 -0 0" xyz="0 0 0" />
      <inertia ixx="1" ixy="0" ixz="0" iyy="1" iyz="0" izz="1" />
    </inertial>
  </link>
  <gazebo reference="NECK_JM_PITCH_LINK">
    <mu1>0.9</mu1>
    <mu2>0.9</mu2>
  </gazebo>
  <link name="NECK_JM_ROLL_LINK">
    <visual>
      <origin rpy="0 -0 0" xyz="0 0 0" />
      <geometry>
        <mesh filename="NECK_JM_ROLL_LINK_mesh.stl" scale="1 1 1" />
      </geometry>
    </visual>
    <collision>
      <origin rpy="0 -0 0" xyz="0 0 0" />
      <geometry>
        <mesh filename="NECK_JM_ROLL_LINK_mesh.stl" scale="1 1 1" />
      </geometry>
    </collision>
    <inertial>
      <mass value="0.001" />
      <origin rpy="0 -0 0" xyz="0 0 0" />
      <inertia ixx="1" ixy="0" ixz="0" iyy="1" iyz="0" izz="1" />
    </inertial>
  </link>
  <gazebo reference="NECK_JM_ROLL_LINK">
    <mu1>0.9</mu1>
    <mu2>0.9</mu2>
  </gazebo>
  <link name="HEAD_LINK">
    <visual>
      <origin rpy="0 -0 0" xyz="0 0 0" />
      <geometry>
        <mesh filename="HEAD_LINK_mesh.stl" scale="1 1 1" />
      </geometry>
    </visual>
    <collision>
      <origin rpy="0 -0 0" xyz="0 0 0" />
      <geometry>
        <mesh filename="HEAD_LINK_mesh.stl" scale="1 1 1" />
      </geometry>
    </collision>
    <inertial>
      <mass value="0.001" />
      <origin rpy="0 -0 0" xyz="0 0 0" />
      <inertia ixx="1" ixy="0" ixz="0" iyy="1" iyz="0" izz="1" />
    </inertial>
  </link>
  <gazebo reference="HEAD_LINK">
    <mu1>0.9</mu1>
    <mu2>0.9</mu2>
  </gazebo>
  <link name="EYE_DUMMY1_LINK">
    <visual>
      <origin rpy="0 -0 0" xyz="0.068814 0 0.134" />
      <geometry>
        <mesh filename="EYE_DUMMY1_LINK_mesh.stl" scale="1 1 1" />
      </geometry>
    </visual>
    <collision>
      <origin rpy="0 -0 0" xyz="0.068814 0 0.134" />
      <geometry>
        <mesh filename="EYE_DUMMY1_LINK_mesh.stl" scale="1 1 1" />
      </geometry>
    </collision>
    <inertial>
      <mass value="2.12" />
      <origin rpy="0 -0 0" xyz="-0.00188 0 0.0746" />
      <inertia ixx="1" ixy="0" ixz="0" iyy="1" iyz="0" izz="1" />
    </inertial>
  </link>
  <gazebo reference="EYE_DUMMY1_LINK">
    <mu1>0.9</mu1>
    <mu2>0.9</mu2>
  </gazebo>
  <link name="LEYE_LINK">
    <visual>
      <origin rpy="0 -0 0" xyz="0 0.04 0" />
      <geometry>
        <mesh filename="LEYE_LINK_mesh.stl" scale="1 1 1" />
      </geometry>
    </visual>
    <collision>
      <origin rpy="0 -0 0" xyz="0 0.04 0" />
      <geometry>
        <mesh filename="LEYE_LINK_mesh.stl" scale="1 1 1" />
      </geometry>
    </collision>
    <inertial>
      <mass value="0.1" />
      <origin rpy="0 -0 0" xyz="-0.00188 0 0.0746" />
      <inertia ixx="1" ixy="0" ixz="0" iyy="1" iyz="0" izz="1" />
    </inertial>
  </link>
  <gazebo reference="LEYE_LINK">
    <mu1>0.9</mu1>
    <mu2>0.9</mu2>
  </gazebo>
  <link name="REYE_LINK">
    <visual>
      <origin rpy="0 -0 0" xyz="0 -0.04 0" />
      <geometry>
        <mesh filename="REYE_LINK_mesh.stl" scale="1 1 1" />
      </geometry>
    </visual>
    <collision>
      <origin rpy="0 -0 0" xyz="0 -0.04 0" />
      <geometry>
        <mesh filename="REYE_LINK_mesh.stl" scale="1 1 1" />
      </geometry>
    </collision>
    <inertial>
      <mass value="0.1" />
      <origin rpy="0 -0 0" xyz="-0.00188 0 0.0746" />
      <inertia ixx="1" ixy="0" ixz="0" iyy="1" iyz="0" izz="1" />
    </inertial>
  </link>
  <gazebo reference="REYE_LINK">
    <mu1>0.9</mu1>
    <mu2>0.9</mu2>
  </gazebo>
  <link name="RARM_HUMERUS_DUMMY1_LINK">
    <visual>
      <origin rpy="0 -0 0" xyz="0 -0.178 0.231445" />
      <geometry>
        <mesh filename="RARM_HUMERUS_DUMMY1_LINK_mesh.stl" scale="1 1 1" />
      </geometry>
    </visual>
    <collision>
      <origin rpy="0 -0 0" xyz="0 -0.178 0.231445" />
      <geometry>
        <mesh filename="RARM_HUMERUS_DUMMY1_LINK_mesh.stl" scale="1 1 1" />
      </geometry>
    </collision>
    <inertial>
      <mass value="0.001" />
      <origin rpy="0 -0 0" xyz="0 0 0" />
      <inertia ixx="1" ixy="0" ixz="0" iyy="1" iyz="0" izz="1" />
    </inertial>
  </link>
  <gazebo reference="RARM_HUMERUS_DUMMY1_LINK">
    <mu1>0.9</mu1>
    <mu2>0.9</mu2>
  </gazebo>
  <link name="RARM_HUMERUS_DUMMY2_LINK">
    <visual>
      <origin rpy="0 -0 0" xyz="0 -0.039 0" />
      <geometry>
        <mesh filename="RARM_HUMERUS_DUMMY2_LINK_mesh.stl" scale="1 1 1" />
      </geometry>
    </visual>
    <collision>
      <origin rpy="0 -0 0" xyz="0 -0.039 0" />
      <geometry>
        <mesh filename="RARM_HUMERUS_DUMMY2_LINK_mesh.stl" scale="1 1 1" />
      </geometry>
    </collision>
    <inertial>
      <mass value="0.001" />
      <origin rpy="0 -0 0" xyz="0 0 0" />
      <inertia ixx="1" ixy="0" ixz="0" iyy="1" iyz="0" izz="1" />
    </inertial>
  </link>
  <gazebo reference="RARM_HUMERUS_DUMMY2_LINK">
    <mu1>0.9</mu1>
    <mu2>0.9</mu2>
  </gazebo>
  <link name="RARM_HUMERUS_LINK">
    <visual>
      <origin rpy="0 -0 0" xyz="0 0 -0.073" />
      <geometry>
        <mesh filename="RARM_HUMERUS_LINK_mesh.stl" scale="1 1 1" />
      </geometry>
    </visual>
    <collision>
      <origin rpy="0 -0 0" xyz="0 0 -0.073" />
      <geometry>
        <mesh filename="RARM_HUMERUS_LINK_mesh.stl" scale="1 1 1" />
      </geometry>
    </collision>
    <inertial>
      <mass value="2.19" />
      <origin rpy="0 -0 0" xyz="0.024 0.0021 -0.135" />
      <inertia ixx="1" ixy="0" ixz="0" iyy="1" iyz="0" izz="1" />
    </inertial>
  </link>
  <gazebo reference="RARM_HUMERUS_LINK">
    <mu1>0.9</mu1>
    <mu2>0.9</mu2>
  </gazebo>
  <link name="RARM_FOREARM_DUMMY1_LINK">
    <visual>
      <origin rpy="0 -0 0" xyz="0.004 0 -0.231" />
      <geometry>
        <mesh filename="RARM_FOREARM_DUMMY1_LINK_mesh.stl" scale="1 1 1" />
      </geometry>
    </visual>
    <collision>
      <origin rpy="0 -0 0" xyz="0.004 0 -0.231" />
      <geometry>
        <mesh filename="RARM_FOREARM_DUMMY1_LINK_mesh.stl" scale="1 1 1" />
      </geometry>
    </collision>
    <inertial>
      <mass value="0.72" />
      <origin rpy="0 -0 0" xyz="-0.008065 0 -0.146065" />
      <inertia ixx="1" ixy="0" ixz="0" iyy="1" iyz="0" izz="1" />
    </inertial>
  </link>
  <gazebo reference="RARM_FOREARM_DUMMY1_LINK">
    <mu1>0.9</mu1>
    <mu2>0.9</mu2>
  </gazebo>
  <link name="RARM_FOREARM_LINK">
    <visual>
      <origin rpy="0 -0 0" xyz="0 0 -0.04" />
      <geometry>
        <mesh filename="RARM_FOREARM_LINK_mesh.stl" scale="1 1 1" />
      </geometry>
    </visual>
    <collision>
      <origin rpy="0 -0 0" xyz="0 0 -0.04" />
      <geometry>
        <mesh filename="RARM_FOREARM_LINK_mesh.stl" scale="1 1 1" />
      </geometry>
    </collision>
    <inertial>
      <mass value="0.75" />
      <origin rpy="0 -0 0" xyz="-0.003285 0 -0.13898" />
      <inertia ixx="1" ixy="0" ixz="0" iyy="1" iyz="0" izz="1" />
    </inertial>
  </link>
  <gazebo reference="RARM_FOREARM_LINK">
    <mu1>0.9</mu1>
    <mu2>0.9</mu2>
  </gazebo>
  <link name="RARM_HAND_DUMMY1_LINK">
    <visual>
      <origin rpy="0 -0 0" xyz="0 0 -0.191" />
      <geometry>
        <mesh filename="RARM_HAND_DUMMY1_LINK_mesh.stl" scale="1 1 1" />
      </geometry>
    </visual>
    <collision>
      <origin rpy="0 -0 0" xyz="0 0 -0.191" />
      <geometry>
        <mesh filename="RARM_HAND_DUMMY1_LINK_mesh.stl" scale="1 1 1" />
      </geometry>
    </collision>
    <inertial>
      <mass value="0.001" />
      <origin rpy="0 -0 0" xyz="0 0 0" />
      <inertia ixx="1" ixy="0" ixz="0" iyy="1" iyz="0" izz="1" />
    </inertial>
  </link>
  <gazebo reference="RARM_HAND_DUMMY1_LINK">
    <mu1>0.9</mu1>
    <mu2>0.9</mu2>
  </gazebo>
  <link name="RARM_HAND_LINK">
    <visual>
      <origin rpy="0 -0 0" xyz="0 0 0" />
      <geometry>
        <mesh filename="RARM_HAND_LINK_mesh.stl" scale="1 1 1" />
      </geometry>
    </visual>
    <collision>
      <origin rpy="0 -0 0" xyz="0 0 0" />
      <geometry>
        <mesh filename="RARM_HAND_LINK_mesh.stl" scale="1 1 1" />
      </geometry>
    </collision>
    <inertial>
      <mass value="0.192" />
      <origin rpy="0 -0 0" xyz="0.01125 0 -0.03" />
      <inertia ixx="1" ixy="0" ixz="0" iyy="1" iyz="0" izz="1" />
    </inertial>
  </link>
  <gazebo reference="RARM_HAND_LINK">
    <mu1>0.9</mu1>
    <mu2>0.9</mu2>
  </gazebo>
  <link name="RARM_INDEX3_LINK">
    <visual>
      <origin rpy="0 -0 0" xyz="0.0349544 0.017 -0.100974" />
      <geometry>
        <mesh filename="RARM_INDEX3_LINK_mesh.stl" scale="1 1 1" />
      </geometry>
    </visual>
    <collision>
      <origin rpy="0 -0 0" xyz="0.0349544 0.017 -0.100974" />
      <geometry>
        <mesh filename="RARM_INDEX3_LINK_mesh.stl" scale="1 1 1" />
      </geometry>
    </collision>
    <inertial>
      <mass value="0.001" />
      <origin rpy="0 -0 0" xyz="0 0 0" />
      <inertia ixx="1" ixy="0" ixz="0" iyy="1" iyz="0" izz="1" />
    </inertial>
  </link>
  <gazebo reference="RARM_INDEX3_LINK">
    <mu1>0.9</mu1>
    <mu2>0.9</mu2>
  </gazebo>
  <link name="RARM_INDEX2_LINK">
    <visual>
      <origin rpy="0 -0 0" xyz="0.00348623 0 -0.0398478" />
      <geometry>
        <mesh filename="RARM_INDEX2_LINK_mesh.stl" scale="1 1 1" />
      </geometry>
    </visual>
    <collision>
      <origin rpy="0 -0 0" xyz="0.00348623 0 -0.0398478" />
      <geometry>
        <mesh filename="RARM_INDEX2_LINK_mesh.stl" scale="1 1 1" />
      </geometry>
    </collision>
    <inertial>
      <mass value="0.001" />
      <origin rpy="0 -0 0" xyz="0 0 0" />
      <inertia ixx="1" ixy="0" ixz="0" iyy="1" iyz="0" izz="1" />
    </inertial>
  </link>
  <gazebo reference="RARM_INDEX2_LINK">
    <mu1>0.9</mu1>
    <mu2>0.9</mu2>
  </gazebo>
  <link name="RARM_INDEX1_LINK">
    <visual>
      <origin rpy="0 -0 0" xyz="0.00261467 0 -0.0298858" />
      <geometry>
        <mesh filename="RARM_INDEX1_LINK_mesh.stl" scale="1 1 1" />
      </geometry>
    </visual>
    <collision>
      <origin rpy="0 -0 0" xyz="0.00261467 0 -0.0298858" />
      <geometry>
        <mesh filename="RARM_INDEX1_LINK_mesh.stl" scale="1 1 1" />
      </geometry>
    </collision>
    <inertial>
      <mass value="0.001" />
      <origin rpy="0 -0 0" xyz="0 0 0" />
      <inertia ixx="1" ixy="0" ixz="0" iyy="1" iyz="0" izz="1" />
    </inertial>
  </link>
  <gazebo reference="RARM_INDEX1_LINK">
    <mu1>0.9</mu1>
    <mu2>0.9</mu2>
  </gazebo>
  <link name="RARM_LITTLE3_LINK">
    <visual>
      <origin rpy="0 -0 0" xyz="-0.0273876 0.017 -0.098252" />
      <geometry>
        <mesh filename="RARM_LITTLE3_LINK_mesh.stl" scale="1 1 1" />
      </geometry>
    </visual>
    <collision>
      <origin rpy="0 -0 0" xyz="-0.0273876 0.017 -0.098252" />
      <geometry>
        <mesh filename="RARM_LITTLE3_LINK_mesh.stl" scale="1 1 1" />
      </geometry>
    </collision>
    <inertial>
      <mass value="0.001" />
      <origin rpy="0 -0 0" xyz="0 0 0" />
      <inertia ixx="1" ixy="0" ixz="0" iyy="1" iyz="0" izz="1" />
    </inertial>
  </link>
  <gazebo reference="RARM_LITTLE3_LINK">
    <mu1>0.9</mu1>
    <mu2>0.9</mu2>
  </gazebo>
  <link name="RARM_LITTLE2_LINK">
    <visual>
      <origin rpy="0 -0 0" xyz="-0.00520945 0 -0.0295442" />
      <geometry>
        <mesh filename="RARM_LITTLE2_LINK_mesh.stl" scale="1 1 1" />
      </geometry>
    </visual>
    <collision>
      <origin rpy="0 -0 0" xyz="-0.00520945 0 -0.0295442" />
      <geometry>
        <mesh filename="RARM_LITTLE2_LINK_mesh.stl" scale="1 1 1" />
      </geometry>
    </collision>
    <inertial>
      <mass value="0.001" />
      <origin rpy="0 -0 0" xyz="0 0 0" />
      <inertia ixx="1" ixy="0" ixz="0" iyy="1" iyz="0" izz="1" />
    </inertial>
  </link>
  <gazebo reference="RARM_LITTLE2_LINK">
    <mu1>0.9</mu1>
    <mu2>0.9</mu2>
  </gazebo>
  <link name="RARM_LITTLE1_LINK">
    <visual>
      <origin rpy="0 -0 0" xyz="-0.00520945 0 -0.0295442" />
      <geometry>
        <mesh filename="RARM_LITTLE1_LINK_mesh.stl" scale="1 1 1" />
      </geometry>
    </visual>
    <collision>
      <origin rpy="0 -0 0" xyz="-0.00520945 0 -0.0295442" />
      <geometry>
        <mesh filename="RARM_LITTLE1_LINK_mesh.stl" scale="1 1 1" />
      </geometry>
    </collision>
    <inertial>
      <mass value="0.001" />
      <origin rpy="0 -0 0" xyz="0 0 0" />
      <inertia ixx="1" ixy="0" ixz="0" iyy="1" iyz="0" izz="1" />
    </inertial>
  </link>
  <gazebo reference="RARM_LITTLE1_LINK">
    <mu1>0.9</mu1>
    <mu2>0.9</mu2>
  </gazebo>
  <link name="RARM_MIDDLE3_LINK">
    <visual>
      <origin rpy="0 -0 0" xyz="0.0141209 0.017 -0.101883" />
      <geometry>
        <mesh filename="RARM_MIDDLE3_LINK_mesh.stl" scale="1 1 1" />
      </geometry>
    </visual>
    <collision>
      <origin rpy="0 -0 0" xyz="0.0141209 0.017 -0.101883" />
      <geometry>
        <mesh filename="RARM_MIDDLE3_LINK_mesh.stl" scale="1 1 1" />
      </geometry>
    </collision>
    <inertial>
      <mass value="0.001" />
      <origin rpy="0 -0 0" xyz="0 0 0" />
      <inertia ixx="1" ixy="0" ixz="0" iyy="1" iyz="0" izz="1" />
    </inertial>
  </link>
  <gazebo reference="RARM_MIDDLE3_LINK">
    <mu1>0.9</mu1>
    <mu2>0.9</mu2>
  </gazebo>
  <link name="RARM_MIDDLE2_LINK">
    <visual>
      <origin rpy="0 -0 0" xyz="0 0 -0.04" />
      <geometry>
        <mesh filename="RARM_MIDDLE2_LINK_mesh.stl" scale="1 1 1" />
      </geometry>
    </visual>
    <collision>
      <origin rpy="0 -0 0" xyz="0 0 -0.04" />
      <geometry>
        <mesh filename="RARM_MIDDLE2_LINK_mesh.stl" scale="1 1 1" />
      </geometry>
    </collision>
    <inertial>
      <mass value="0.001" />
      <origin rpy="0 -0 0" xyz="0 0 0" />
      <inertia ixx="1" ixy="0" ixz="0" iyy="1" iyz="0" izz="1" />
    </inertial>
  </link>
  <gazebo reference="RARM_MIDDLE2_LINK">
    <mu1>0.9</mu1>
    <mu2>0.9</mu2>
  </gazebo>
  <link name="RARM_MIDDLE1_LINK">
    <visual>
      <origin rpy="0 -0 0" xyz="0 0 -0.03" />
      <geometry>
        <mesh filename="RARM_MIDDLE1_LINK_mesh.stl" scale="1 1 1" />
      </geometry>
    </visual>
    <collision>
      <origin rpy="0 -0 0" xyz="0 0 -0.03" />
      <geometry>
        <mesh filename="RARM_MIDDLE1_LINK_mesh.stl" scale="1 1 1" />
      </geometry>
    </collision>
    <inertial>
      <mass value="0.001" />
      <origin rpy="0 -0 0" xyz="0 0 0" />
      <inertia ixx="1" ixy="0" ixz="0" iyy="1" iyz="0" izz="1" />
    </inertial>
  </link>
  <gazebo reference="RARM_MIDDLE1_LINK">
    <mu1>0.9</mu1>
    <mu2>0.9</mu2>
  </gazebo>
  <link name="RARM_RING3_LINK">
    <visual>
      <origin rpy="0 -0 0" xyz="-0.00671263 0.017 -0.100974" />
      <geometry>
        <mesh filename="RARM_RING3_LINK_mesh.stl" scale="1 1 1" />
      </geometry>
    </visual>
    <collision>
      <origin rpy="0 -0 0" xyz="-0.00671263 0.017 -0.100974" />
      <geometry>
        <mesh filename="RARM_RING3_LINK_mesh.stl" scale="1 1 1" />
      </geometry>
    </collision>
    <inertial>
      <mass value="0.001" />
      <origin rpy="0 -0 0" xyz="0 0 0" />
      <inertia ixx="1" ixy="0" ixz="0" iyy="1" iyz="0" izz="1" />
    </inertial>
  </link>
  <gazebo reference="RARM_RING3_LINK">
    <mu1>0.9</mu1>
    <mu2>0.9</mu2>
  </gazebo>
  <link name="RARM_RING2_LINK">
    <visual>
      <origin rpy="0 -0 0" xyz="-0.00348623 0 -0.0398478" />
      <geometry>
        <mesh filename="RARM_RING2_LINK_mesh.stl" scale="1 1 1" />
      </geometry>
    </visual>
    <collision>
      <origin rpy="0 -0 0" xyz="-0.00348623 0 -0.0398478" />
      <geometry>
        <mesh filename="RARM_RING2_LINK_mesh.stl" scale="1 1 1" />
      </geometry>
    </collision>
    <inertial>
      <mass value="0.001" />
      <origin rpy="0 -0 0" xyz="0 0 0" />
      <inertia ixx="1" ixy="0" ixz="0" iyy="1" iyz="0" izz="1" />
    </inertial>
  </link>
  <gazebo reference="RARM_RING2_LINK">
    <mu1>0.9</mu1>
    <mu2>0.9</mu2>
  </gazebo>
  <link name="RARM_RING1_LINK">
    <visual>
      <origin rpy="0 -0 0" xyz="-0.00261467 0 -0.0298858" />
      <geometry>
        <mesh filename="RARM_RING1_LINK_mesh.stl" scale="1 1 1" />
      </geometry>
    </visual>
    <collision>
      <origin rpy="0 -0 0" xyz="-0.00261467 0 -0.0298858" />
      <geometry>
        <mesh filename="RARM_RING1_LINK_mesh.stl" scale="1 1 1" />
      </geometry>
    </collision>
    <inertial>
      <mass value="0.001" />
      <origin rpy="0 -0 0" xyz="0 0 0" />
      <inertia ixx="1" ixy="0" ixz="0" iyy="1" iyz="0" izz="1" />
    </inertial>
  </link>
  <gazebo reference="RARM_RING1_LINK">
    <mu1>0.9</mu1>
    <mu2>0.9</mu2>
  </gazebo>
  <link name="RARM_THUMB4_LINK">
    <visual>
      <origin rpy="0 -0 0" xyz="0.0299678 0.006 -0.0497134" />
      <geometry>
        <mesh filename="RARM_THUMB4_LINK_mesh.stl" scale="1 1 1" />
      </geometry>
    </visual>
    <collision>
      <origin rpy="0 -0 0" xyz="0.0299678 0.006 -0.0497134" />
      <geometry>
        <mesh filename="RARM_THUMB4_LINK_mesh.stl" scale="1 1 1" />
      </geometry>
    </collision>
    <inertial>
      <mass value="0.001" />
      <origin rpy="0 -0 0" xyz="0 0 0" />
      <inertia ixx="1" ixy="0" ixz="0" iyy="1" iyz="0" izz="1" />
    </inertial>
  </link>
  <gazebo reference="RARM_THUMB4_LINK">
    <mu1>0.9</mu1>
    <mu2>0.9</mu2>
  </gazebo>
  <link name="RARM_THUMB3_LINK">
    <visual>
      <origin rpy="0 -0 0" xyz="0 0 0" />
      <geometry>
        <mesh filename="RARM_THUMB3_LINK_mesh.stl" scale="1 1 1" />
      </geometry>
    </visual>
    <collision>
      <origin rpy="0 -0 0" xyz="0 0 0" />
      <geometry>
        <mesh filename="RARM_THUMB3_LINK_mesh.stl" scale="1 1 1" />
      </geometry>
    </collision>
    <inertial>
      <mass value="0.001" />
      <origin rpy="0 -0 0" xyz="0 0 0" />
      <inertia ixx="1" ixy="0" ixz="0" iyy="1" iyz="0" izz="1" />
    </inertial>
  </link>
  <gazebo reference="RARM_THUMB3_LINK">
    <mu1>0.9</mu1>
    <mu2>0.9</mu2>
  </gazebo>
  <link name="RARM_THUMB2_LINK">
    <visual>
      <origin rpy="0 -0 0" xyz="0.0360228 0.011 -0.0109274" />
      <geometry>
        <mesh filename="RARM_THUMB2_LINK_mesh.stl" scale="1 1 1" />
      </geometry>
    </visual>
    <collision>
      <origin rpy="0 -0 0" xyz="0.0360228 0.011 -0.0109274" />
      <geometry>
        <mesh filename="RARM_THUMB2_LINK_mesh.stl" scale="1 1 1" />
      </geometry>
    </collision>
    <inertial>
      <mass value="0.001" />
      <origin rpy="0 -0 0" xyz="0 0 0" />
      <inertia ixx="1" ixy="0" ixz="0" iyy="1" iyz="0" izz="1" />
    </inertial>
  </link>
  <gazebo reference="RARM_THUMB2_LINK">
    <mu1>0.9</mu1>
    <mu2>0.9</mu2>
  </gazebo>
  <link name="RARM_THUMB1_LINK">
    <visual>
      <origin rpy="0 -0 0" xyz="0.0245746 0 -0.0172073" />
      <geometry>
        <mesh filename="RARM_THUMB1_LINK_mesh.stl" scale="1 1 1" />
      </geometry>
    </visual>
    <collision>
      <origin rpy="0 -0 0" xyz="0.0245746 0 -0.0172073" />
      <geometry>
        <mesh filename="RARM_THUMB1_LINK_mesh.stl" scale="1 1 1" />
      </geometry>
    </collision>
    <inertial>
      <mass value="0.001" />
      <origin rpy="0 -0 0" xyz="0 0 0" />
      <inertia ixx="1" ixy="0" ixz="0" iyy="1" iyz="0" izz="1" />
    </inertial>
  </link>
  <gazebo reference="RARM_THUMB1_LINK">
    <mu1>0.9</mu1>
    <mu2>0.9</mu2>
  </gazebo>
  <joint name="LLEG_HIP_JOINT_Y" type="revolute">
    <parent link="PELVIS_LINK" />
    <child link="LLEG_HIP_JM_YAW_LINK" />
    <origin rpy="0 -0 0 " xyz="0 0.074848 -0.174" />
    <axis xyz="0 0 1" />
    <limit effort="100" lower="-1.39626" upper="1.39626" velocity="3" />
    <dynamics damping="0.2" friction="0" />
  </joint>
  <gazebo reference="LLEG_HIP_JOINT_Y">
    <cfmDamping>0.4</cfmDamping>
  </gazebo>
  <transmission name="LLEG_HIP_JOINT_Y_trans" type="SimpleTransmission">
      <actuator name="LLEG_HIP_JOINT_Y_motor"/>
      <joint name="LLEG_HIP_JOINT_Y"/>
  </transmission>
  <joint name="LLEG_HIP_JOINT_R" type="revolute">
    <parent link="LLEG_HIP_JM_YAW_LINK" />
    <child link="LLEG_HIP_JM_ROLL_LINK" />
    <origin rpy="0 -0 0 " xyz="0 0 0" />
    <axis xyz="1 0 0" />
    <limit effort="100" lower="-0.523599" upper="0.698132" velocity="3" />
    <dynamics damping="0.2" friction="0" />
  </joint>
  <gazebo reference="LLEG_HIP_JOINT_R">
    <cfmDamping>0.4</cfmDamping>
  </gazebo>
  <transmission name="LLEG_HIP_JOINT_R_trans" type="SimpleTransmission">
      <actuator name="LLEG_HIP_JOINT_R_motor"/>
      <joint name="LLEG_HIP_JOINT_R"/>
  </transmission>
  <joint name="LLEG_HIP_JOINT_P" type="revolute">
    <parent link="LLEG_HIP_JM_ROLL_LINK" />
    <child link="LLEG_FEMUR_LINK" />
    <origin rpy="0 -0 0 " xyz="0 0 0" />
    <axis xyz="0 0.766 -0.643" />
    <limit effort="100" lower="-1.5708" upper="1.5708" velocity="3" />
    <dynamics damping="0.2" friction="0" />
  </joint>
  <gazebo reference="LLEG_HIP_JOINT_P">
    <cfmDamping>0.4</cfmDamping>
  </gazebo>
  <transmission name="LLEG_HIP_JOINT_P_trans" type="SimpleTransmission">
      <actuator name="LLEG_HIP_JOINT_P_motor"/>
      <joint name="LLEG_HIP_JOINT_P"/>
  </transmission>
  <joint name="LLEG_KNEE_JOINT_P" type="revolute">
    <parent link="LLEG_FEMUR_LINK" />
    <child link="LLEG_KNEE_JM_PITCH_LINK" />
    <origin rpy="0 -0 0 " xyz="-0.003864 0.001455 -0.387444" />
    <axis xyz="0 1 0" />
    <limit effort="100" lower="0" upper="1.5708" velocity="3" />
    <dynamics damping="0.2" friction="0" />
  </joint>
  <gazebo reference="LLEG_KNEE_JOINT_P">
    <cfmDamping>0.4</cfmDamping>
  </gazebo>
  <transmission name="LLEG_KNEE_JOINT_P_trans" type="SimpleTransmission">
      <actuator name="LLEG_KNEE_JOINT_P_motor"/>
      <joint name="LLEG_KNEE_JOINT_P"/>
  </transmission>
  <joint name="LLEG_KNEE_JOINT_Y" type="revolute">
    <parent link="LLEG_KNEE_JM_PITCH_LINK" />
    <child link="LLEG_TIBIA_LINK" />
    <origin rpy="0 -0 0 " xyz="0 0 0" />
    <axis xyz="0 0 1" />
    <limit effort="100" lower="-0.523599" upper="0.698132" velocity="3" />
    <dynamics damping="0.2" friction="0" />
  </joint>
  <gazebo reference="LLEG_KNEE_JOINT_Y">
    <cfmDamping>0.4</cfmDamping>
  </gazebo>
  <transmission name="LLEG_KNEE_JOINT_Y_trans" type="SimpleTransmission">
      <actuator name="LLEG_KNEE_JOINT_Y_motor"/>
      <joint name="LLEG_KNEE_JOINT_Y"/>
  </transmission>
  <joint name="LLEG_ANKLE_JOINT_P" type="revolute">
    <parent link="LLEG_TIBIA_LINK" />
    <child link="LLEG_ANKLE_JM_PITCH_LINK" />
    <origin rpy="0 -0 0 " xyz="0 0 -0.396" />
    <axis xyz="0 1 0" />
    <limit effort="100" lower="-1.309" upper="1.309" velocity="3" />
    <dynamics damping="0.2" friction="0" />
  </joint>
  <gazebo reference="LLEG_ANKLE_JOINT_P">
    <cfmDamping>0.4</cfmDamping>
  </gazebo>
  <transmission name="LLEG_ANKLE_JOINT_P_trans" type="SimpleTransmission">
      <actuator name="LLEG_ANKLE_JOINT_P_motor"/>
      <joint name="LLEG_ANKLE_JOINT_P"/>
  </transmission>
  <joint name="LLEG_ANKLE_JOINT_R" type="revolute">
    <parent link="LLEG_ANKLE_JM_PITCH_LINK" />
    <child link="LLEG_FOOT_LINK" />
    <origin rpy="0 -0 0 " xyz="0 0 0" />
    <axis xyz="1 0 0" />
    <limit effort="100" lower="-1.309" upper="1.309" velocity="3" />
    <dynamics damping="0.2" friction="0" />
  </joint>
  <gazebo reference="LLEG_ANKLE_JOINT_R">
    <cfmDamping>0.4</cfmDamping>
  </gazebo>
  <transmission name="LLEG_ANKLE_JOINT_R_trans" type="SimpleTransmission">
      <actuator name="LLEG_ANKLE_JOINT_R_motor"/>
      <joint name="LLEG_ANKLE_JOINT_R"/>
  </transmission>
  <joint name="LLEG_HEEL_JOINT_P" type="fixed">
    <parent link="LLEG_FOOT_LINK" />
    <child link="LLEG_HEEL_LINK" />
    <origin rpy="0 -0 0 " xyz="-0.006 0 -0.0425" />
    <axis xyz="0 0 1" />
    <limit effort="100" lower="0" upper="0" velocity="0.5" />
    <dynamics damping="0.2" friction="0" />
  </joint>
  <gazebo reference="LLEG_HEEL_JOINT_P">
    <cfmDamping>0.4</cfmDamping>
  </gazebo>
  <joint name="LLEG_TOE_JOINT_P" type="revolute">
    <parent link="LLEG_FOOT_LINK" />
    <child link="LLEG_TOE_LINK" />
    <origin rpy="0 -0 0 " xyz="0.1195 0 -0.0455" />
    <axis xyz="0 1 0" />
    <limit effort="100" lower="-1.5708" upper="0" velocity="3" />
    <dynamics damping="0.2" friction="0" />
  </joint>
  <gazebo reference="LLEG_TOE_JOINT_P">
    <cfmDamping>0.4</cfmDamping>
  </gazebo>
  <joint name="RLEG_HIP_JOINT_Y" type="revolute">
    <parent link="PELVIS_LINK" />
    <child link="RLEG_HIP_JM_YAW_LINK" />
    <origin rpy="0 -0 0 " xyz="0 -0.074848 -0.174" />
    <axis xyz="0 0 1" />
    <limit effort="100" lower="-1.39626" upper="1.39626" velocity="3" />
    <dynamics damping="0.2" friction="0" />
  </joint>
  <gazebo reference="RLEG_HIP_JOINT_Y">
    <cfmDamping>0.4</cfmDamping>
  </gazebo>
  <transmission name="RLEG_HIP_JOINT_Y_trans" type="SimpleTransmission">
      <actuator name="RLEG_HIP_JOINT_Y_motor"/>
      <joint name="RLEG_HIP_JOINT_Y"/>
  </transmission>
  <joint name="RLEG_HIP_JOINT_R" type="revolute">
    <parent link="RLEG_HIP_JM_YAW_LINK" />
    <child link="RLEG_HIP_JM_ROLL_LINK" />
    <origin rpy="0 -0 0 " xyz="0 0 0" />
    <axis xyz="1 0 0" />
    <limit effort="100" lower="-0.698132" upper="0.523599" velocity="3" />
    <dynamics damping="0.2" friction="0" />
  </joint>
  <gazebo reference="RLEG_HIP_JOINT_R">
    <cfmDamping>0.4</cfmDamping>
  </gazebo>
  <transmission name="RLEG_HIP_JOINT_R_trans" type="SimpleTransmission">
      <actuator name="RLEG_HIP_JOINT_R_motor"/>
      <joint name="RLEG_HIP_JOINT_R"/>
  </transmission>
  <joint name="RLEG_HIP_JOINT_P" type="revolute">
    <parent link="RLEG_HIP_JM_ROLL_LINK" />
    <child link="RLEG_FEMUR_LINK" />
    <origin rpy="0 -0 0 " xyz="0 0 0" />
    <axis xyz="0 0.766 0.643" />
    <limit effort="100" lower="-1.5708" upper="1.5708" velocity="3" />
    <dynamics damping="0.2" friction="0" />
  </joint>
  <gazebo reference="RLEG_HIP_JOINT_P">
    <cfmDamping>0.4</cfmDamping>
  </gazebo>
  <transmission name="RLEG_HIP_JOINT_P_trans" type="SimpleTransmission">
      <actuator name="RLEG_HIP_JOINT_P_motor"/>
      <joint name="RLEG_HIP_JOINT_P"/>
  </transmission>
  <joint name="RLEG_KNEE_JOINT_P" type="revolute">
    <parent link="RLEG_FEMUR_LINK" />
    <child link="RLEG_KNEE_JM_PITCH_LINK" />
    <origin rpy="0 -0 0 " xyz="-0.003864 -0.001455 -0.387444" />
    <axis xyz="0 1 0" />
    <limit effort="100" lower="0" upper="1.5708" velocity="3" />
    <dynamics damping="0.2" friction="0" />
  </joint>
  <gazebo reference="RLEG_KNEE_JOINT_P">
    <cfmDamping>0.4</cfmDamping>
  </gazebo>
  <transmission name="RLEG_KNEE_JOINT_P_trans" type="SimpleTransmission">
      <actuator name="RLEG_KNEE_JOINT_P_motor"/>
      <joint name="RLEG_KNEE_JOINT_P"/>
  </transmission>
  <joint name="RLEG_KNEE_JOINT_Y" type="revolute">
    <parent link="RLEG_KNEE_JM_PITCH_LINK" />
    <child link="RLEG_TIBIA_LINK" />
    <origin rpy="0 -0 0 " xyz="0 0 0" />
    <axis xyz="0.1046 0 0.9946" />
    <limit effort="100" lower="-0.698132" upper="0.523599" velocity="3" />
    <dynamics damping="0.2" friction="0" />
  </joint>
  <gazebo reference="RLEG_KNEE_JOINT_Y">
    <cfmDamping>0.4</cfmDamping>
  </gazebo>
  <transmission name="RLEG_KNEE_JOINT_Y_trans" type="SimpleTransmission">
      <actuator name="RLEG_KNEE_JOINT_Y_motor"/>
      <joint name="RLEG_KNEE_JOINT_Y"/>
  </transmission>
  <joint name="RLEG_ANKLE_JOINT_P" type="revolute">
    <parent link="RLEG_TIBIA_LINK" />
    <child link="RLEG_ANKLE_JM_PITCH_LINK" />
    <origin rpy="0 -0 0 " xyz="0 0 -0.396" />
    <axis xyz="0 1 0" />
    <limit effort="100" lower="-1.309" upper="1.309" velocity="3" />
    <dynamics damping="0.2" friction="0" />
  </joint>
  <gazebo reference="RLEG_ANKLE_JOINT_P">
    <cfmDamping>0.4</cfmDamping>
  </gazebo>
  <transmission name="RLEG_ANKLE_JOINT_P_trans" type="SimpleTransmission">
      <actuator name="RLEG_ANKLE_JOINT_P_motor"/>
      <joint name="RLEG_ANKLE_JOINT_P"/>
  </transmission>
  <joint name="RLEG_ANKLE_JOINT_R" type="revolute">
    <parent link="RLEG_ANKLE_JM_PITCH_LINK" />
    <child link="RLEG_FOOT_LINK" />
    <origin rpy="0 -0 0 " xyz="0 0 0" />
    <axis xyz="1 0 0" />
    <limit effort="100" lower="-1.309" upper="1.309" velocity="3" />
    <dynamics damping="0.2" friction="0" />
  </joint>
  <gazebo reference="RLEG_ANKLE_JOINT_R">
    <cfmDamping>0.4</cfmDamping>
  </gazebo>
  <transmission name="RLEG_ANKLE_JOINT_R_trans" type="SimpleTransmission">
      <actuator name="RLEG_ANKLE_JOINT_R_motor"/>
      <joint name="RLEG_ANKLE_JOINT_R"/>
  </transmission>
  <joint name="RLEG_HEEL_JOINT_P" type="fixed">
    <parent link="RLEG_FOOT_LINK" />
    <child link="RLEG_HEEL_LINK" />
    <origin rpy="0 -0 0 " xyz="-0.006 0 -0.0425" />
    <axis xyz="0 0 1" />
    <limit effort="100" lower="0" upper="0" velocity="0.5" />
    <dynamics damping="0.2" friction="0" />
  </joint>
  <gazebo reference="RLEG_HEEL_JOINT_P">
    <cfmDamping>0.4</cfmDamping>
  </gazebo>
  <joint name="RLEG_TOE_JOINT_P" type="revolute">
    <parent link="RLEG_FOOT_LINK" />
    <child link="RLEG_TOE_LINK" />
    <origin rpy="0 -0 0 " xyz="0.1195 0 -0.0455" />
    <axis xyz="0 1 0" />
    <limit effort="100" lower="-1.5708" upper="0" velocity="3" />
    <dynamics damping="0.2" friction="0" />
  </joint>
  <gazebo reference="RLEG_TOE_JOINT_P">
    <cfmDamping>0.4</cfmDamping>
  </gazebo>
  <joint name="SPINE_JOINT_P" type="revolute">
    <parent link="PELVIS_LINK" />
    <child link="SPINE_JM_PITCH_LINK" />
    <origin rpy="0 -0 0 " xyz="0 0 0" />
    <axis xyz="0 1 0" />
    <limit effort="100" lower="-0.523599" upper="0.698132" velocity="3" />
    <dynamics damping="0.2" friction="0" />
  </joint>
  <gazebo reference="SPINE_JOINT_P">
    <cfmDamping>0.4</cfmDamping>
  </gazebo>
  <transmission name="SPINE_JOINT_P" type="SimpleTransmission">
      <actuator name="SPINE_JOINT_P_motor"/>
      <joint name="SPINE_JOINT_P"/>
  </transmission>
  <joint name="SPINE_JOINT_R" type="revolute">
    <parent link="SPINE_JM_PITCH_LINK" />
    <child link="SPINE_JM_ROLL_LINK" />
    <origin rpy="0 -0 0 " xyz="0 0 0" />
    <axis xyz="1 0 0" />
    <limit effort="100" lower="-0.523599" upper="0.523599" velocity="3" />
    <dynamics damping="0.2" friction="0" />
  </joint>
  <gazebo reference="SPINE_JOINT_R">
    <cfmDamping>0.4</cfmDamping>
  </gazebo>
  <joint name="SPINE_JOINT_Y" type="revolute">
    <parent link="SPINE_JM_ROLL_LINK" />
    <child link="CHEST_LINK" />
    <origin rpy="0 -0 0 " xyz="0 0 0" />
    <axis xyz="0 0 1" />
    <limit effort="100" lower="-0.785398" upper="0.785398" velocity="3" />
    <dynamics damping="0.2" friction="0" />
  </joint>
  <gazebo reference="SPINE_JOINT_Y">
    <cfmDamping>0.4</cfmDamping>
  </gazebo>
  <joint name="LARM_SHOULDER_JOINT_P" type="revolute">
    <parent link="CHEST_LINK" />
    <child link="LARM_HUMERUS_DUMMY1_LINK" />
    <origin rpy="0 -0 0 " xyz="0 0.178 0.231445" />
    <axis xyz="0 1 0" />
    <limit effort="100" lower="-2.0944" upper="0.785399" velocity="3" />
    <dynamics damping="0.2" friction="0" />
  </joint>
  <gazebo reference="LARM_SHOULDER_JOINT_P">
    <cfmDamping>0.4</cfmDamping>
  </gazebo>
  <joint name="LARM_SHOULDER_JOINT_R" type="revolute">
    <parent link="LARM_HUMERUS_DUMMY1_LINK" />
    <child link="LARM_HUMERUS_DUMMY2_LINK" />
    <origin rpy="0 -0 0 " xyz="0 0.039 0" />
    <axis xyz="1 0 0" />
    <limit effort="100" lower="-0.523599" upper="2.0944" velocity="3" />
    <dynamics damping="0.2" friction="0" />
  </joint>
  <gazebo reference="LARM_SHOULDER_JOINT_R">
    <cfmDamping>0.4</cfmDamping>
  </gazebo>
  <joint name="LARM_SHOULDER_JOINT_Y" type="revolute">
    <parent link="LARM_HUMERUS_DUMMY2_LINK" />
    <child link="LARM_HUMERUS_LINK" />
    <origin rpy="0 -0 0 " xyz="0 0 -0.073" />
    <axis xyz="0 0 1" />
    <limit effort="100" lower="-1.5708" upper="1.5708" velocity="3" />
    <dynamics damping="0.2" friction="0" />
  </joint>
  <gazebo reference="LARM_SHOULDER_JOINT_Y">
    <cfmDamping>0.4</cfmDamping>
  </gazebo>
  <joint name="LARM_ELBOW_JOINT_P" type="revolute">
    <parent link="LARM_HUMERUS_LINK" />
    <child link="LARM_FOREARM_DUMMY1_LINK" />
    <origin rpy="0 -0 0 " xyz="0.004 0 -0.231" />
    <axis xyz="0 1 0" />
    <limit effort="100" lower="-2.3562" upper="0" velocity="3" />
    <dynamics damping="0.2" friction="0" />
  </joint>
  <gazebo reference="LARM_ELBOW_JOINT_P">
    <cfmDamping>0.4</cfmDamping>
  </gazebo>
  <joint name="LARM_ELBOW_JOINT_Y" type="revolute">
    <parent link="LARM_FOREARM_DUMMY1_LINK" />
    <child link="LARM_FOREARM_LINK" />
    <origin rpy="0 -0 0 " xyz="0 0 -0.04" />
    <axis xyz="0.1046 0 0.9946" />
    <limit effort="100" lower="-1.5708" upper="1.5708" velocity="3" />
    <dynamics damping="0.2" friction="0" />
  </joint>
  <gazebo reference="LARM_ELBOW_JOINT_Y">
    <cfmDamping>0.4</cfmDamping>
  </gazebo>
  <joint name="LARM_WRIST_JOINT_P" type="revolute">
    <parent link="LARM_FOREARM_LINK" />
    <child link="LARM_HAND_DUMMY1_LINK" />
    <origin rpy="0 -0 0 " xyz="0 0 -0.191" />
    <axis xyz="0 1 0" />
    <limit effort="100" lower="-0.7854" upper="0.7854" velocity="3" />
    <dynamics damping="0.2" friction="0" />
  </joint>
  <gazebo reference="LARM_WRIST_JOINT_P">
    <cfmDamping>0.4</cfmDamping>
  </gazebo>
  <joint name="LARM_WRIST_JOINT_R" type="revolute">
    <parent link="LARM_HAND_DUMMY1_LINK" />
    <child link="LARM_HAND_LINK" />
    <origin rpy="0 -0 0 " xyz="0 0 0" />
    <axis xyz="1 0 0" />
    <limit effort="100" lower="-0.7854" upper="0.7854" velocity="3" />
    <dynamics damping="0.2" friction="0" />
  </joint>
  <gazebo reference="LARM_WRIST_JOINT_R">
    <cfmDamping>0.4</cfmDamping>
  </gazebo>
  <joint name="LARM_INDEX3_JOINT_R" type="revolute">
    <parent link="LARM_HAND_LINK" />
    <child link="LARM_INDEX3_LINK" />
    <origin rpy="0 -0 0 " xyz="0.0349544 -0.017 -0.100974" />
    <axis xyz="0.996195 0 0.0871557" />
    <limit effort="100" lower="-1.5708" upper="0" velocity="3" />
    <dynamics damping="0.2" friction="0" />
  </joint>
  <gazebo reference="LARM_INDEX3_JOINT_R">
    <cfmDamping>0.4</cfmDamping>
  </gazebo>
  <joint name="LARM_INDEX2_JOINT_R" type="revolute">
    <parent link="LARM_INDEX3_LINK" />
    <child link="LARM_INDEX2_LINK" />
    <origin rpy="0 -0 0 " xyz="0.00348623 0 -0.0398478" />
    <axis xyz="0.996195 0 0.0871557" />
    <limit effort="100" lower="-1.5708" upper="0" velocity="3" />
    <dynamics damping="0.2" friction="0" />
  </joint>
  <gazebo reference="LARM_INDEX2_JOINT_R">
    <cfmDamping>0.4</cfmDamping>
  </gazebo>
  <joint name="LARM_INDEX1_JOINT_R" type="revolute">
    <parent link="LARM_INDEX2_LINK" />
    <child link="LARM_INDEX1_LINK" />
    <origin rpy="0 -0 0 " xyz="0.00261467 0 -0.0298858" />
    <axis xyz="0.996195 0 0.0871557" />
    <limit effort="100" lower="-1.5708" upper="0" velocity="3" />
    <dynamics damping="0.2" friction="0" />
  </joint>
  <gazebo reference="LARM_INDEX1_JOINT_R">
    <cfmDamping>0.4</cfmDamping>
  </gazebo>
  <joint name="LARM_LITTLE3_JOINT_R" type="revolute">
    <parent link="LARM_HAND_LINK" />
    <child link="LARM_LITTLE3_LINK" />
    <origin rpy="0 -0 0 " xyz="-0.0273876 -0.017 -0.098252" />
    <axis xyz="0.984808 0 -0.173648" />
    <limit effort="100" lower="-1.5708" upper="0" velocity="3" />
    <dynamics damping="0.2" friction="0" />
  </joint>
  <gazebo reference="LARM_LITTLE3_JOINT_R">
    <cfmDamping>0.4</cfmDamping>
  </gazebo>
  <joint name="LARM_LITTLE2_JOINT_R" type="revolute">
    <parent link="LARM_LITTLE3_LINK" />
    <child link="LARM_LITTLE2_LINK" />
    <origin rpy="0 -0 0 " xyz="-0.00520945 0 -0.0295442" />
    <axis xyz="0.984808 0 -0.173648" />
    <limit effort="100" lower="-1.5708" upper="0" velocity="3" />
    <dynamics damping="0.2" friction="0" />
  </joint>
  <gazebo reference="LARM_LITTLE2_JOINT_R">
    <cfmDamping>0.4</cfmDamping>
  </gazebo>
  <joint name="LARM_LITTLE1_JOINT_R" type="revolute">
    <parent link="LARM_LITTLE2_LINK" />
    <child link="LARM_LITTLE1_LINK" />
    <origin rpy="0 -0 0 " xyz="-0.00520945 0 -0.0295442" />
    <axis xyz="0.984808 0 -0.173648" />
    <limit effort="100" lower="-1.5708" upper="0" velocity="3" />
    <dynamics damping="0.2" friction="0" />
  </joint>
  <gazebo reference="LARM_LITTLE1_JOINT_R">
    <cfmDamping>0.4</cfmDamping>
  </gazebo>
  <joint name="LARM_MIDDLE3_JOINT_R" type="revolute">
    <parent link="LARM_HAND_LINK" />
    <child link="LARM_MIDDLE3_LINK" />
    <origin rpy="0 -0 0 " xyz="0.0141209 -0.017 -0.101883" />
    <axis xyz="1 0 0" />
    <limit effort="100" lower="-1.5708" upper="0" velocity="3" />
    <dynamics damping="0.2" friction="0" />
  </joint>
  <gazebo reference="LARM_MIDDLE3_JOINT_R">
    <cfmDamping>0.4</cfmDamping>
  </gazebo>
  <joint name="LARM_MIDDLE2_JOINT_R" type="revolute">
    <parent link="LARM_MIDDLE3_LINK" />
    <child link="LARM_MIDDLE2_LINK" />
    <origin rpy="0 -0 0 " xyz="0 0 -0.04" />
    <axis xyz="1 0 0" />
    <limit effort="100" lower="-1.5708" upper="0" velocity="3" />
    <dynamics damping="0.2" friction="0" />
  </joint>
  <gazebo reference="LARM_MIDDLE2_JOINT_R">
    <cfmDamping>0.4</cfmDamping>
  </gazebo>
  <joint name="LARM_MIDDLE1_JOINT_R" type="revolute">
    <parent link="LARM_MIDDLE2_LINK" />
    <child link="LARM_MIDDLE1_LINK" />
    <origin rpy="0 -0 0 " xyz="0 0 -0.03" />
    <axis xyz="1 0 0" />
    <limit effort="100" lower="-1.5708" upper="0" velocity="3" />
    <dynamics damping="0.2" friction="0" />
  </joint>
  <gazebo reference="LARM_MIDDLE1_JOINT_R">
    <cfmDamping>0.4</cfmDamping>
  </gazebo>
  <joint name="LARM_RING3_JOINT_R" type="revolute">
    <parent link="LARM_HAND_LINK" />
    <child link="LARM_RING3_LINK" />
    <origin rpy="0 -0 0 " xyz="-0.00671263 -0.017 -0.100974" />
    <axis xyz="0.996195 0 -0.0871557" />
    <limit effort="100" lower="-1.5708" upper="0" velocity="3" />
    <dynamics damping="0.2" friction="0" />
  </joint>
  <gazebo reference="LARM_RING3_JOINT_R">
    <cfmDamping>0.4</cfmDamping>
  </gazebo>
  <joint name="LARM_RING2_JOINT_R" type="revolute">
    <parent link="LARM_RING3_LINK" />
    <child link="LARM_RING2_LINK" />
    <origin rpy="0 -0 0 " xyz="-0.00348623 0 -0.0398478" />
    <axis xyz="0.996195 0 -0.0871557" />
    <limit effort="100" lower="-1.5708" upper="0" velocity="3" />
    <dynamics damping="0.2" friction="0" />
  </joint>
  <gazebo reference="LARM_RING2_JOINT_R">
    <cfmDamping>0.4</cfmDamping>
  </gazebo>
  <joint name="LARM_RING1_JOINT_R" type="revolute">
    <parent link="LARM_RING2_LINK" />
    <child link="LARM_RING1_LINK" />
    <origin rpy="0 -0 0 " xyz="-0.00261467 0 -0.0298858" />
    <axis xyz="0.996195 0 -0.0871557" />
    <limit effort="100" lower="-1.5708" upper="0" velocity="3" />
    <dynamics damping="0.2" friction="0" />
  </joint>
  <gazebo reference="LARM_RING1_JOINT_R">
    <cfmDamping>0.4</cfmDamping>
  </gazebo>
  <joint name="LARM_THUMB4_JOINT_Y" type="revolute">
    <parent link="LARM_HAND_LINK" />
    <child link="LARM_THUMB4_LINK" />
    <origin rpy="0 -0 0 " xyz="0.0299678 -0.006 -0.0497134" />
    <axis xyz="-0.0871557 0 0.996195" />
    <limit effort="100" lower="-2.09439" upper="0" velocity="3" />
    <dynamics damping="0.2" friction="0" />
  </joint>
  <gazebo reference="LARM_THUMB4_JOINT_Y">
    <cfmDamping>0.4</cfmDamping>
  </gazebo>
  <joint name="LARM_THUMB3_JOINT_Y" type="revolute">
    <parent link="LARM_THUMB4_LINK" />
    <child link="LARM_THUMB3_LINK" />
    <origin rpy="0 -0 0 " xyz="0 0 0" />
    <axis xyz="0 1 0" />
    <limit effort="100" lower="0" upper="0.872664" velocity="3" />
    <dynamics damping="0.2" friction="0" />
  </joint>
  <gazebo reference="LARM_THUMB3_JOINT_Y">
    <cfmDamping>0.4</cfmDamping>
  </gazebo>
  <joint name="LARM_THUMB2_JOINT_Y" type="revolute">
    <parent link="LARM_THUMB3_LINK" />
    <child link="LARM_THUMB2_LINK" />
    <origin rpy="0 -0 0 " xyz="0.0360228 -0.011 -0.0109274" />
    <axis xyz="0.40558 -0.707106 0.57922" />
    <limit effort="100" lower="-1.5708" upper="0" velocity="3" />
    <dynamics damping="0.2" friction="0" />
  </joint>
  <gazebo reference="LARM_THUMB2_JOINT_Y">
    <cfmDamping>0.4</cfmDamping>
  </gazebo>
  <joint name="LARM_THUMB1_JOINT_Y" type="revolute">
    <parent link="LARM_THUMB2_LINK" />
    <child link="LARM_THUMB1_LINK" />
    <origin rpy="0 -0 0 " xyz="0.0245746 0 -0.0172073" />
    <axis xyz="0.40558 -0.707106 0.57922" />
    <limit effort="100" lower="-1.5708" upper="0" velocity="3" />
    <dynamics damping="0.2" friction="0" />
  </joint>
  <gazebo reference="LARM_THUMB1_JOINT_Y">
    <cfmDamping>0.4</cfmDamping>
  </gazebo>
  <joint name="NECK_JOINT_P" type="revolute">
    <parent link="CHEST_LINK" />
    <child link="NECK_JM_PITCH_LINK" />
    <origin rpy="0 -0 0 " xyz="0 0 0.322" />
    <axis xyz="0 1 0" />
    <limit effort="100" lower="-1.13446" upper="0.785398" velocity="3" />
    <dynamics damping="0.2" friction="0" />
  </joint>
  <gazebo reference="NECK_JOINT_P">
    <cfmDamping>0.4</cfmDamping>
  </gazebo>
  <joint name="NECK_JOINT_R" type="revolute">
    <parent link="NECK_JM_PITCH_LINK" />
    <child link="NECK_JM_ROLL_LINK" />
    <origin rpy="0 -0 0 " xyz="0 0 0" />
    <axis xyz="1 0 0" />
    <limit effort="100" lower="-0.785398" upper="0.785398" velocity="3" />
    <dynamics damping="0.2" friction="0" />
  </joint>
  <gazebo reference="NECK_JOINT_R">
    <cfmDamping>0.4</cfmDamping>
  </gazebo>
  <joint name="NECK_JOINT_Y" type="revolute">
    <parent link="NECK_JM_ROLL_LINK" />
    <child link="HEAD_LINK" />
    <origin rpy="0 -0 0 " xyz="0 0 0" />
    <axis xyz="0 0 1" />
    <limit effort="100" lower="-1.5708" upper="1.5708" velocity="3" />
    <dynamics damping="0.2" friction="0" />
  </joint>
  <gazebo reference="NECK_JOINT_Y">
    <cfmDamping>0.4</cfmDamping>
  </gazebo>
  <joint name="EYE_JOINT_P" type="revolute">
    <parent link="HEAD_LINK" />
    <child link="EYE_DUMMY1_LINK" />
    <origin rpy="0 -0 0 " xyz="0.068814 0 0.134" />
    <axis xyz="0 1 0" />
    <limit effort="100" lower="-3.49065" upper="1.0472" velocity="1" />
    <dynamics damping="0.2" friction="0" />
  </joint>
  <gazebo reference="EYE_JOINT_P">
    <cfmDamping>0.4</cfmDamping>
  </gazebo>
  <joint name="LEYE_JOINT_Y" type="revolute">
    <parent link="EYE_DUMMY1_LINK" />
    <child link="LEYE_LINK" />
    <origin rpy="0 -0 0 " xyz="0 0.04 0" />
    <axis xyz="0 0 1" />
    <limit effort="100" lower="-3.83972" upper="3.66519" velocity="1" />
    <dynamics damping="0.2" friction="0" />
  </joint>
  <gazebo reference="LEYE_JOINT_Y">
    <cfmDamping>0.4</cfmDamping>
  </gazebo>
  <joint name="REYE_JOINT_Y" type="revolute">
    <parent link="EYE_DUMMY1_LINK" />
    <child link="REYE_LINK" />
    <origin rpy="0 -0 0 " xyz="0 -0.04 0" />
    <axis xyz="0 0 1" />
    <limit effort="100" lower="-3.83972" upper="3.66519" velocity="1" />
    <dynamics damping="0.2" friction="0" />
  </joint>
  <gazebo reference="REYE_JOINT_Y">
    <cfmDamping>0.4</cfmDamping>
  </gazebo>
  <joint name="RARM_SHOULDER_JOINT_P" type="revolute">
    <parent link="CHEST_LINK" />
    <child link="RARM_HUMERUS_DUMMY1_LINK" />
    <origin rpy="0 -0 0 " xyz="0 -0.178 0.231445" />
    <axis xyz="0 1 0" />
    <limit effort="100" lower="-2.0944" upper="0.785399" velocity="3" />
    <dynamics damping="0.2" friction="0" />
  </joint>
  <gazebo reference="RARM_SHOULDER_JOINT_P">
    <cfmDamping>0.4</cfmDamping>
  </gazebo>
  <joint name="RARM_SHOULDER_JOINT_R" type="revolute">
    <parent link="RARM_HUMERUS_DUMMY1_LINK" />
    <child link="RARM_HUMERUS_DUMMY2_LINK" />
    <origin rpy="0 -0 0 " xyz="0 -0.039 0" />
    <axis xyz="1 0 0" />
    <limit effort="100" lower="-2.0944" upper="0.523599" velocity="3" />
    <dynamics damping="0.2" friction="0" />
  </joint>
  <gazebo reference="RARM_SHOULDER_JOINT_R">
    <cfmDamping>0.4</cfmDamping>
  </gazebo>
  <joint name="RARM_SHOULDER_JOINT_Y" type="revolute">
    <parent link="RARM_HUMERUS_DUMMY2_LINK" />
    <child link="RARM_HUMERUS_LINK" />
    <origin rpy="0 -0 0 " xyz="0 0 -0.073" />
    <axis xyz="0 0 1" />
    <limit effort="100" lower="-1.5708" upper="1.5708" velocity="3" />
    <dynamics damping="0.2" friction="0" />
  </joint>
  <gazebo reference="RARM_SHOULDER_JOINT_Y">
    <cfmDamping>0.4</cfmDamping>
  </gazebo>
  <joint name="RARM_ELBOW_JOINT_P" type="revolute">
    <parent link="RARM_HUMERUS_LINK" />
    <child link="RARM_FOREARM_DUMMY1_LINK" />
    <origin rpy="0 -0 0 " xyz="0.004 0 -0.231" />
    <axis xyz="0 1 0" />
    <limit effort="100" lower="-2.3562" upper="0" velocity="3" />
    <dynamics damping="0.2" friction="0" />
  </joint>
  <gazebo reference="RARM_ELBOW_JOINT_P">
    <cfmDamping>0.4</cfmDamping>
  </gazebo>
  <joint name="RARM_ELBOW_JOINT_Y" type="revolute">
    <parent link="RARM_FOREARM_DUMMY1_LINK" />
    <child link="RARM_FOREARM_LINK" />
    <origin rpy="0 -0 0 " xyz="0 0 -0.04" />
    <axis xyz="0.1046 0 0.9946" />
    <limit effort="100" lower="-1.5708" upper="1.5708" velocity="3" />
    <dynamics damping="0.2" friction="0" />
  </joint>
  <gazebo reference="RARM_ELBOW_JOINT_Y">
    <cfmDamping>0.4</cfmDamping>
  </gazebo>
  <joint name="RARM_WRIST_JOINT_P" type="revolute">
    <parent link="RARM_FOREARM_LINK" />
    <child link="RARM_HAND_DUMMY1_LINK" />
    <origin rpy="0 -0 0 " xyz="0 0 -0.191" />
    <axis xyz="0 1 0" />
    <limit effort="100" lower="-0.7854" upper="0.7854" velocity="3" />
    <dynamics damping="0.2" friction="0" />
  </joint>
  <gazebo reference="RARM_WRIST_JOINT_P">
    <cfmDamping>0.4</cfmDamping>
  </gazebo>
  <joint name="RARM_WRIST_JOINT_R" type="revolute">
    <parent link="RARM_HAND_DUMMY1_LINK" />
    <child link="RARM_HAND_LINK" />
    <origin rpy="0 -0 0 " xyz="0 0 0" />
    <axis xyz="1 0 0" />
    <limit effort="100" lower="-0.7854" upper="0.7854" velocity="3" />
    <dynamics damping="0.2" friction="0" />
  </joint>
  <gazebo reference="RARM_WRIST_JOINT_R">
    <cfmDamping>0.4</cfmDamping>
  </gazebo>
  <joint name="RARM_INDEX3_JOINT_R" type="revolute">
    <parent link="RARM_HAND_LINK" />
    <child link="RARM_INDEX3_LINK" />
    <origin rpy="0 -0 0 " xyz="0.0349544 0.017 -0.100974" />
    <axis xyz="0.996195 0 0.0871557" />
    <limit effort="100" lower="0" upper="1.5708" velocity="3" />
    <dynamics damping="0.2" friction="0" />
  </joint>
  <gazebo reference="RARM_INDEX3_JOINT_R">
    <cfmDamping>0.4</cfmDamping>
  </gazebo>
  <joint name="RARM_INDEX2_JOINT_R" type="revolute">
    <parent link="RARM_INDEX3_LINK" />
    <child link="RARM_INDEX2_LINK" />
    <origin rpy="0 -0 0 " xyz="0.00348623 0 -0.0398478" />
    <axis xyz="0.996195 0 0.0871557" />
    <limit effort="100" lower="0" upper="1.5708" velocity="3" />
    <dynamics damping="0.2" friction="0" />
  </joint>
  <gazebo reference="RARM_INDEX2_JOINT_R">
    <cfmDamping>0.4</cfmDamping>
  </gazebo>
  <joint name="RARM_INDEX1_JOINT_R" type="revolute">
    <parent link="RARM_INDEX2_LINK" />
    <child link="RARM_INDEX1_LINK" />
    <origin rpy="0 -0 0 " xyz="0.00261467 0 -0.0298858" />
    <axis xyz="0.996195 0 0.0871557" />
    <limit effort="100" lower="0" upper="1.5708" velocity="3" />
    <dynamics damping="0.2" friction="0" />
  </joint>
  <gazebo reference="RARM_INDEX1_JOINT_R">
    <cfmDamping>0.4</cfmDamping>
  </gazebo>
  <joint name="RARM_LITTLE3_JOINT_R" type="revolute">
    <parent link="RARM_HAND_LINK" />
    <child link="RARM_LITTLE3_LINK" />
    <origin rpy="0 -0 0 " xyz="-0.0273876 0.017 -0.098252" />
    <axis xyz="0.984808 0 -0.173648" />
    <limit effort="100" lower="0" upper="1.5708" velocity="3" />
    <dynamics damping="0.2" friction="0" />
  </joint>
  <gazebo reference="RARM_LITTLE3_JOINT_R">
    <cfmDamping>0.4</cfmDamping>
  </gazebo>
  <joint name="RARM_LITTLE2_JOINT_R" type="revolute">
    <parent link="RARM_LITTLE3_LINK" />
    <child link="RARM_LITTLE2_LINK" />
    <origin rpy="0 -0 0 " xyz="-0.00520945 0 -0.0295442" />
    <axis xyz="0.984808 0 -0.173648" />
    <limit effort="100" lower="0" upper="1.5708" velocity="3" />
    <dynamics damping="0.2" friction="0" />
  </joint>
  <gazebo reference="RARM_LITTLE2_JOINT_R">
    <cfmDamping>0.4</cfmDamping>
  </gazebo>
  <joint name="RARM_LITTLE1_JOINT_R" type="revolute">
    <parent link="RARM_LITTLE2_LINK" />
    <child link="RARM_LITTLE1_LINK" />
    <origin rpy="0 -0 0 " xyz="-0.00520945 0 -0.0295442" />
    <axis xyz="0.984808 0 -0.173648" />
    <limit effort="100" lower="0" upper="1.5708" velocity="3" />
    <dynamics damping="0.2" friction="0" />
  </joint>
  <gazebo reference="RARM_LITTLE1_JOINT_R">
    <cfmDamping>0.4</cfmDamping>
  </gazebo>
  <joint name="RARM_MIDDLE3_JOINT_R" type="revolute">
    <parent link="RARM_HAND_LINK" />
    <child link="RARM_MIDDLE3_LINK" />
    <origin rpy="0 -0 0 " xyz="0.0141209 0.017 -0.101883" />
    <axis xyz="1 0 0" />
    <limit effort="100" lower="0" upper="1.5708" velocity="3" />
    <dynamics damping="0.2" friction="0" />
  </joint>
  <gazebo reference="RARM_MIDDLE3_JOINT_R">
    <cfmDamping>0.4</cfmDamping>
  </gazebo>
  <joint name="RARM_MIDDLE2_JOINT_R" type="revolute">
    <parent link="RARM_MIDDLE3_LINK" />
    <child link="RARM_MIDDLE2_LINK" />
    <origin rpy="0 -0 0 " xyz="0 0 -0.04" />
    <axis xyz="1 0 0" />
    <limit effort="100" lower="0" upper="1.5708" velocity="3" />
    <dynamics damping="0.2" friction="0" />
  </joint>
  <gazebo reference="RARM_MIDDLE2_JOINT_R">
    <cfmDamping>0.4</cfmDamping>
  </gazebo>
  <joint name="RARM_MIDDLE1_JOINT_R" type="revolute">
    <parent link="RARM_MIDDLE2_LINK" />
    <child link="RARM_MIDDLE1_LINK" />
    <origin rpy="0 -0 0 " xyz="0 0 -0.03" />
    <axis xyz="1 0 0" />
    <limit effort="100" lower="0" upper="1.5708" velocity="3" />
    <dynamics damping="0.2" friction="0" />
  </joint>
  <gazebo reference="RARM_MIDDLE1_JOINT_R">
    <cfmDamping>0.4</cfmDamping>
  </gazebo>
  <joint name="RARM_RING3_JOINT_R" type="revolute">
    <parent link="RARM_HAND_LINK" />
    <child link="RARM_RING3_LINK" />
    <origin rpy="0 -0 0 " xyz="-0.00671263 0.017 -0.100974" />
    <axis xyz="0.996195 0 -0.0871557" />
    <limit effort="100" lower="0" upper="1.5708" velocity="3" />
    <dynamics damping="0.2" friction="0" />
  </joint>
  <gazebo reference="RARM_RING3_JOINT_R">
    <cfmDamping>0.4</cfmDamping>
  </gazebo>
  <joint name="RARM_RING2_JOINT_R" type="revolute">
    <parent link="RARM_RING3_LINK" />
    <child link="RARM_RING2_LINK" />
    <origin rpy="0 -0 0 " xyz="-0.00348623 0 -0.0398478" />
    <axis xyz="0.996195 0 -0.0871557" />
    <limit effort="100" lower="0" upper="1.5708" velocity="3" />
    <dynamics damping="0.2" friction="0" />
  </joint>
  <gazebo reference="RARM_RING2_JOINT_R">
    <cfmDamping>0.4</cfmDamping>
  </gazebo>
  <joint name="RARM_RING1_JOINT_R" type="revolute">
    <parent link="RARM_RING2_LINK" />
    <child link="RARM_RING1_LINK" />
    <origin rpy="0 -0 0 " xyz="-0.00261467 0 -0.0298858" />
    <axis xyz="0.996195 0 -0.0871557" />
    <limit effort="100" lower="0" upper="1.5708" velocity="3" />
    <dynamics damping="0.2" friction="0" />
  </joint>
  <gazebo reference="RARM_RING1_JOINT_R">
    <cfmDamping>0.4</cfmDamping>
  </gazebo>
  <joint name="RARM_THUMB4_JOINT_Y" type="revolute">
    <parent link="RARM_HAND_LINK" />
    <child link="RARM_THUMB4_LINK" />
    <origin rpy="0 -0 0 " xyz="0.0299678 0.006 -0.0497134" />
    <axis xyz="-0.0871557 0 0.996195" />
    <limit effort="100" lower="0" upper="2.09439" velocity="3" />
    <dynamics damping="0.2" friction="0" />
  </joint>
  <gazebo reference="RARM_THUMB4_JOINT_Y">
    <cfmDamping>0.4</cfmDamping>
  </gazebo>
  <joint name="RARM_THUMB3_JOINT_Y" type="revolute">
    <parent link="RARM_THUMB4_LINK" />
    <child link="RARM_THUMB3_LINK" />
    <origin rpy="0 -0 0 " xyz="0 0 0" />
    <axis xyz="0 1 0" />
    <limit effort="100" lower="0" upper="0.872664" velocity="3" />
    <dynamics damping="0.2" friction="0" />
  </joint>
  <gazebo reference="RARM_THUMB3_JOINT_Y">
    <cfmDamping>0.4</cfmDamping>
  </gazebo>
  <joint name="RARM_THUMB2_JOINT_Y" type="revolute">
    <parent link="RARM_THUMB3_LINK" />
    <child link="RARM_THUMB2_LINK" />
    <origin rpy="0 -0 0 " xyz="0.0360228 0.011 -0.0109274" />
    <axis xyz="0.40558 0.707106 0.57922" />
    <limit effort="100" lower="0" upper="1.5708" velocity="3" />
    <dynamics damping="0.2" friction="0" />
  </joint>
  <gazebo reference="RARM_THUMB2_JOINT_Y">
    <cfmDamping>0.4</cfmDamping>
  </gazebo>
  <joint name="RARM_THUMB1_JOINT_Y" type="revolute">
    <parent link="RARM_THUMB2_LINK" />
    <child link="RARM_THUMB1_LINK" />
    <origin rpy="0 -0 0 " xyz="0.0245746 0 -0.0172073" />
    <axis xyz="0.40558 0.707106 0.57922" />
    <limit effort="100" lower="0" upper="1.5708" velocity="3" />
    <dynamics damping="0.2" friction="0" />
  </joint>
  <gazebo reference="RARM_THUMB1_JOINT_Y">
    <cfmDamping>0.4</cfmDamping>
  </gazebo>
  <!--
  <mujoco><compiler balanceinertia="true" boundinertia="0.1" boundmass="0.1" /><option collision="predefined" /></mujoco>
-->
</robot>
